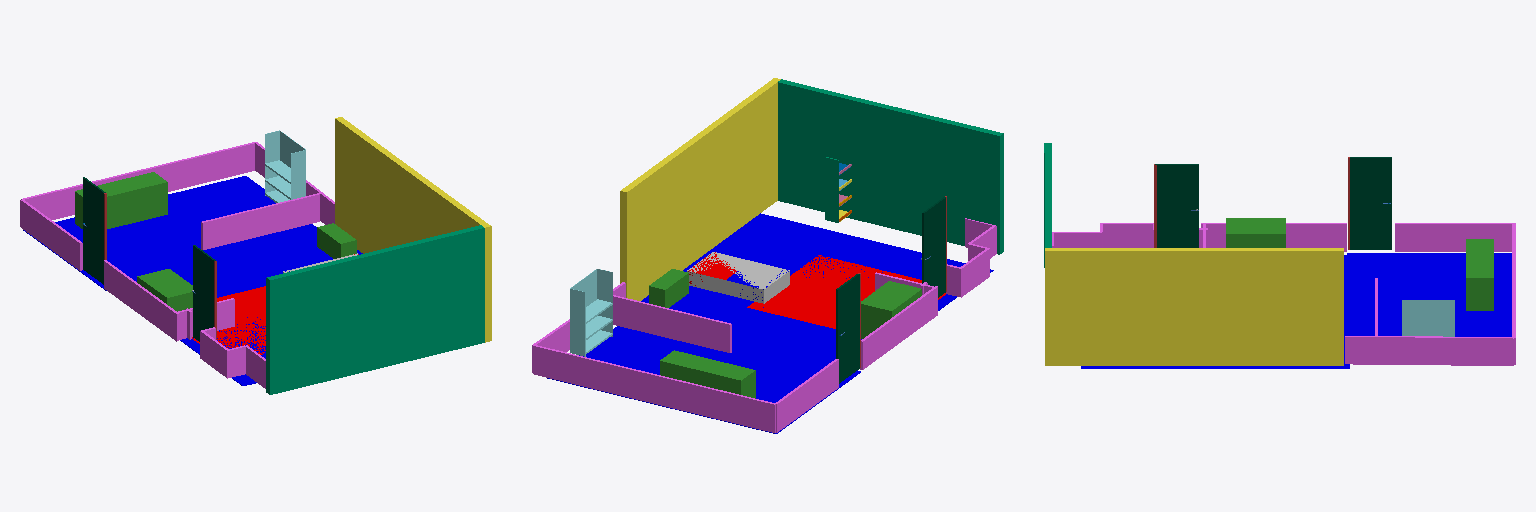
--- What the picture shows (computed from the rendered views, not written in the file) ---
Views: 3 orthographic renders of the robot side by side, from view 1: azimuth 30°, elevation 25°; view 2: azimuth 150°, elevation 25°; view 3: azimuth 270°, elevation 25°.
Robot: iai-kitchen — 129 links, 128 joints (12 revolute, 15 prismatic, 101 fixed); root link urdf_main; default pose: every joint at zero.
Visible links, largest first — view 1: kitchen_wall_1, kitchen_wall_2, living_room:living_room:room_center_link, wall_14_link, iai_kitchen:kitchen:room_center_link, wall_4_link, popcorn_table:p_table:table_center, wall_3_link, arena:arena:room_center_link, living_room:arena:door_center, wall_5_link, iai_kitchen:arena:door_center (+8 smaller); view 2: kitchen_wall_1, kitchen_wall_2, iai_kitchen:kitchen:room_center_link, wall_14_link, living_room:living_room:room_center_link, arena:arena:room_center_link, wall_4_link, suturo_couch:couch:place1, popcorn_table:p_table:table_center, wall_3_link, living_room:arena:door_center, iai_kitchen:arena:door_center (+9 smaller); view 3: kitchen_wall_2, living_room:living_room:room_center_link, wall_15_link, living_room:arena:door_center, iai_kitchen:arena:door_center, wall_5_link, popcorn_table:p_table:table_center, wall_3_link, shelf:shelf:shelf_back, long_table:l_table:table_center, iai_kitchen:kitchen:room_center_link, wall_12_link (+2 smaller).
Link boxes in pixels (<box>): kitchen_wall_1: <box>266,225,484,394</box>; kitchen_wall_2: <box>335,117,491,342</box>; living_room:living_room:room_center_link: <box>23,176,316,290</box>; wall_14_link: <box>21,142,254,219</box>; iai_kitchen:kitchen:room_center_link: <box>176,237,362,385</box>; wall_4_link: <box>201,193,319,249</box>; popcorn_table:p_table:table_center: <box>75,172,167,228</box>; wall_3_link: <box>104,260,178,341</box>; arena:arena:room_center_link: <box>192,286,265,354</box>; living_room:arena:door_center: <box>83,177,105,284</box>; wall_5_link: <box>20,200,82,270</box>; iai_kitchen:arena:door_center: <box>193,245,215,341</box>; kitchen_wall_1: <box>778,79,1003,254</box>; kitchen_wall_2: <box>620,78,780,300</box>; iai_kitchen:kitchen:room_center_link: <box>641,213,993,370</box>; wall_14_link: <box>533,345,775,432</box>; living_room:living_room:room_center_link: <box>547,326,860,433</box>; arena:arena:room_center_link: <box>747,255,945,328</box>; wall_4_link: <box>613,295,731,352</box>; suturo_couch:couch:place1: <box>687,252,789,303</box>; popcorn_table:p_table:table_center: <box>660,350,755,398</box>; wall_3_link: <box>860,286,937,369</box>; living_room:arena:door_center: <box>836,274,859,383</box>; iai_kitchen:arena:door_center: <box>922,197,945,297</box>; kitchen_wall_2: <box>1045,248,1343,365</box>; living_room:living_room:room_center_link: <box>1347,253,1511,336</box>; wall_15_link: <box>1345,336,1513,365</box>; living_room:arena:door_center: <box>1350,157,1391,249</box>; iai_kitchen:arena:door_center: <box>1155,164,1198,247</box>; wall_5_link: <box>1395,223,1513,251</box>; popcorn_table:p_table:table_center: <box>1466,239,1493,310</box>; wall_3_link: <box>1201,223,1346,251</box>; shelf:shelf:shelf_back: <box>1402,300,1454,336</box>; long_table:l_table:table_center: <box>1226,218,1285,247</box>; iai_kitchen:kitchen:room_center_link: <box>1081,255,1349,368</box>; wall_12_link: <box>1100,223,1153,247</box>.
Bounding box of the posed robot: 5.42 × 9.27 × 2.56 m (x, y, z).
Meshes: 28 distinct files referenced, 0 mesh visuals loaded (none loaded); not drawn: 53 (reference not matched to a file when rendering).

The robot description file, URDF, robot "iai-kitchen":
<?xml version="1.0" ?>
<robot name="iai-kitchen" version="1.0">
  <material name="table_grey">
    <color rgba="0.255 0.62 0.223 1.0"/>
  </material>
  <material name="color_grey">
    <color rgba="0.8 0.8 0.8 1.0"/>
  </material>
  <material name="color_red">
    <color rgba="1.0 0.0 0.0 1.0"/>
  </material>
  <material name="color_blue">
    <color rgba="0.0 0.0 1.0 1.0"/>
  </material>
  <material name="round_table_grey">
    <color rgba="0.8 0.8 0.8 1.0"/>
  </material>
  <material name="wall_pink">
    <color rgba="0.95 0.43 0.96 1.0"/>
  </material>
  <material name="shelf_blue">
    <color rgba="0.59 0.88 0.9 1.0"/>
  </material>
  <material name="shelf_door_green">
    <color rgba="0.64 0.87 0.82 1.0"/>
  </material>
  <material name="shelf_openable_handle_red">
    <color rgba="0.74 0.25 0.25 1.0"/>
  </material>
  <material name="door_green">
    <color rgba="0.0 0.31 0.22 1.0"/>
  </material>
  <material name="hinge_red">
    <color rgba="0.74 0.25 0.25 1.0"/>
  </material>
  <material name="handle_blue">
    <color rgba="0.3 0.5 0.78 1.0"/>
  </material>
  <material name="bucket_grey">
    <color rgba="0.8 0.8 0.8 1.0"/>
  </material>
  <material name="white">
    <color rgba="1.0 1.0 1.0 1.0"/>
  </material>
  <material name="orange">
    <color rgba="1.0 0.7 0.0 1.0"/>
  </material>
  <material name="handle_white">
    <color rgba="1.0 1.0 1.0 1.0"/>
  </material>
  <material name="bottom_white">
    <color rgba="1.0 1.0 1.0 1.0"/>
  </material>
  <material name="frame_wood">
    <color rgba="0.68 0.63 0.47 1.0"/>
  </material>
  <material name="handle_grey">
    <color rgba="0.7 0.7 0.7 1.0"/>
  </material>
  <link name="long_table:l_table:table_center">
    <visual>
      <origin xyz="0.0 0.0 -0.3675" rpy="0.0 0.0 0.0"/>
      <geometry>
        <box size="0.73 1.17 0.735"/>
      </geometry>
      <material name="table_grey"/>
    </visual>
    <collision>
      <origin xyz="0.0 0.0 -0.3675" rpy="0.0 0.0 0.0"/>
      <geometry>
        <box size="0.73 1.17 0.735"/>
      </geometry>
    </collision>
  </link>
  <link name="long_table:l_table:table_origin"/>
  <link name="long_table:l_table:table_front_edge_center"/>
  <joint name="long_table:l_table:table_origin_joint" type="fixed">
    <origin xyz="1.01 2.13 0.0" rpy="0.0 0.0 3.15"/>
    <parent link="urdf_offset"/>
    <child link="long_table:l_table:table_origin"/>
  </joint>
  <joint name="long_table:l_table:center_joint" type="fixed">
    <origin xyz="0.365 0.585 0.735" rpy="0.0 0.0 0.0"/>
    <parent link="long_table:l_table:table_origin"/>
    <child link="long_table:l_table:table_center"/>
  </joint>
  <joint name="long_table:l_table:table_front_edge_center_joint" type="fixed">
    <origin xyz="0.0 0.585 0.735" rpy="0.0 0.0 0.0"/>
    <parent link="long_table:l_table:table_origin"/>
    <child link="long_table:l_table:table_front_edge_center"/>
  </joint>
  <link name="popcorn_table:p_table:table_center">
    <visual>
      <origin xyz="0.0 0.0 -0.355" rpy="0.0 0.0 0.0"/>
      <geometry>
        <box size="0.55 1.8 0.71"/>
      </geometry>
      <material name="table_grey"/>
    </visual>
    <collision>
      <origin xyz="0.0 0.0 -0.355" rpy="0.0 0.0 0.0"/>
      <geometry>
        <box size="0.55 1.8 0.71"/>
      </geometry>
    </collision>
  </link>
  <link name="popcorn_table:p_table:table_origin"/>
  <link name="popcorn_table:p_table:table_front_edge_center"/>
  <joint name="popcorn_table:p_table:table_origin_joint" type="fixed">
    <origin xyz="3.03 5.68 0.0" rpy="0.0 0.0 1.57"/>
    <parent link="urdf_offset"/>
    <child link="popcorn_table:p_table:table_origin"/>
  </joint>
  <joint name="popcorn_table:p_table:center_joint" type="fixed">
    <origin xyz="0.275 0.9 0.71" rpy="0.0 0.0 0.0"/>
    <parent link="popcorn_table:p_table:table_origin"/>
    <child link="popcorn_table:p_table:table_center"/>
  </joint>
  <joint name="popcorn_table:p_table:table_front_edge_center_joint" type="fixed">
    <origin xyz="0.0 0.9 0.71" rpy="0.0 0.0 0.0"/>
    <parent link="popcorn_table:p_table:table_origin"/>
    <child link="popcorn_table:p_table:table_front_edge_center"/>
  </joint>
  <link name="couch_table:couch_table:table_center">
    <visual>
      <origin xyz="0.0 0.0 -0.2165" rpy="0.0 0.0 0.0"/>
      <geometry>
        <box size="0.37 0.909 0.433"/>
      </geometry>
      <material name="table_grey"/>
    </visual>
    <collision>
      <origin xyz="0.0 0.0 -0.2165" rpy="0.0 0.0 0.0"/>
      <geometry>
        <box size="0.37 0.909 0.433"/>
      </geometry>
    </collision>
  </link>
  <link name="couch_table:couch_table:table_origin"/>
  <link name="couch_table:couch_table:table_front_edge_center"/>
  <joint name="couch_table:couch_table:table_origin_joint" type="fixed">
    <origin xyz="4.83 1.99 0.0" rpy="0.0 0.0 0.0"/>
    <parent link="urdf_offset"/>
    <child link="couch_table:couch_table:table_origin"/>
  </joint>
  <joint name="couch_table:couch_table:center_joint" type="fixed">
    <origin xyz="0.185 0.4545 0.433" rpy="0.0 0.0 0.0"/>
    <parent link="couch_table:couch_table:table_origin"/>
    <child link="couch_table:couch_table:table_center"/>
  </joint>
  <joint name="couch_table:couch_table:table_front_edge_center_joint" type="fixed">
    <origin xyz="0.0 0.4545 0.433" rpy="0.0 0.0 0.0"/>
    <parent link="couch_table:couch_table:table_origin"/>
    <child link="couch_table:couch_table:table_front_edge_center"/>
  </joint>
  <link name="suturo_couch:couch:place1">
    <visual>
      <origin xyz="0.0 0.0 0.15" rpy="0.0 0.0 0.0"/>
      <geometry>
        <box size="1.0 1.7 0.3"/>
      </geometry>
      <material name="color_grey"/>
    </visual>
    <collision>
      <origin xyz="0.0 0.0 0.0" rpy="0.0 0.0 0.0"/>
      <geometry>
        <box size="1.0 1.7 0.3"/>
      </geometry>
    </collision>
  </link>
  <link name="suturo_couch:couch:place2">
    <visual>
      <origin xyz="0.0 -0.425 0.15" rpy="0.0 0.0 0.0"/>
      <geometry>
        <box size="1.0 0.85 0.3"/>
      </geometry>
      <material name="color_red"/>
    </visual>
    <collision>
      <origin xyz="0.0 0.0 0.0" rpy="0.0 0.0 0.0"/>
      <geometry>
        <box size="1.0 1.7 0.3"/>
      </geometry>
    </collision>
  </link>
  <link name="suturo_couch:couch:place3">
    <visual>
      <origin xyz="0.0 0.425 0.15" rpy="0.0 0.0 0.0"/>
      <geometry>
        <box size="1.0 0.85 0.3"/>
      </geometry>
      <material name="color_blue"/>
    </visual>
    <collision>
      <origin xyz="0.0 0.0 -0.15" rpy="0.0 0.0 0.0"/>
      <geometry>
        <box size="1.0 1.7 0.3"/>
      </geometry>
    </collision>
  </link>
  <joint name="suturo_couch:couch:couch_origin_joint" type="fixed">
    <origin xyz="4.2 1.19 0.0" rpy="0.0 0.0 1.57"/>
    <parent link="urdf_offset"/>
    <child link="suturo_couch:couch:place1"/>
  </joint>
  <joint name="suturo_couch:couch:couch_left_joint" type="fixed">
    <origin xyz="0.0 0.0 0.0" rpy="0.0 0.0 0.0"/>
    <parent link="suturo_couch:couch:place1"/>
    <child link="suturo_couch:couch:place2"/>
  </joint>
  <joint name="suturo_couch:couch:couch_right_joint" type="fixed">
    <origin xyz="0.0 0.0 0.0" rpy="0.0 0.0 0.0"/>
    <parent link="suturo_couch:couch:place1"/>
    <child link="suturo_couch:couch:place3"/>
  </joint>
  <link name="shelf:shelf:shelf_origin"/>
  <link name="shelf:shelf:shelf_center"/>
  <link name="shelf:shelf:shelf_base_center"/>
  <joint name="shelf:shelf:shelf_origin_joint" type="fixed">
    <origin xyz="5.11 4.42 0.0" rpy="0.0 0.0 0.0"/>
    <parent link="urdf_offset"/>
    <child link="shelf:shelf:shelf_origin"/>
  </joint>
  <joint name="shelf:shelf:shelf_center_joint" type="fixed">
    <origin xyz="0.17 0.52 0.6775" rpy="0.0 0.0 0.0"/>
    <parent link="shelf:shelf:shelf_origin"/>
    <child link="shelf:shelf:shelf_center"/>
  </joint>
  <joint name="shelf:shelf:shelf_base_center_joint" type="fixed">
    <origin xyz="0.17 0.52 0.0" rpy="0.0 0.0 0.0"/>
    <parent link="shelf:shelf:shelf_origin"/>
    <child link="shelf:shelf:shelf_base_center"/>
  </joint>
  <link name="shelf:shelf:shelf_back">
    <visual>
      <origin xyz="0.0 0.0 0.0" rpy="0.0 0.0 0.0"/>
      <geometry>
        <box size="0.01 1.04 1.355"/>
      </geometry>
      <material name="shelf_blue"/>
    </visual>
    <collision>
      <origin xyz="0.0 0.0 0.0" rpy="0.0 0.0 0.0"/>
      <geometry>
        <box size="0.01 1.04 1.355"/>
      </geometry>
    </collision>
  </link>
  <joint name="shelf:shelf:shelf_back:joint" type="fixed">
    <origin xyz="0.34 0.52 0.6775" rpy="0.0 0.0 0.0"/>
    <parent link="shelf:shelf:shelf_origin"/>
    <child link="shelf:shelf:shelf_back"/>
  </joint>
  <link name="shelf:shelf:shelf_right_side">
    <visual>
      <origin xyz="0.0 0.0 0.0" rpy="0.0 0.0 0.0"/>
      <geometry>
        <box size="0.34 0.01 1.355"/>
      </geometry>
      <material name="shelf_blue"/>
    </visual>
    <collision>
      <origin xyz="0.0 0.0 0.0" rpy="0.0 0.0 0.0"/>
      <geometry>
        <box size="0.34 0.01 1.355"/>
      </geometry>
    </collision>
  </link>
  <joint name="shelf:shelf:shelf_right_side:joint" type="fixed">
    <origin xyz="0.17 0.0 0.6775" rpy="0.0 0.0 0.0"/>
    <parent link="shelf:shelf:shelf_origin"/>
    <child link="shelf:shelf:shelf_right_side"/>
  </joint>
  <link name="shelf:shelf:shelf_left_side">
    <visual>
      <origin xyz="0.0 0.0 0.0" rpy="0.0 0.0 0.0"/>
      <geometry>
        <box size="0.34 0.01 1.355"/>
      </geometry>
      <material name="shelf_blue"/>
    </visual>
    <collision>
      <origin xyz="0.0 0.0 0.0" rpy="0.0 0.0 0.0"/>
      <geometry>
        <box size="0.34 0.01 1.355"/>
      </geometry>
    </collision>
  </link>
  <joint name="shelf:shelf:shelf_left_side:joint" type="fixed">
    <origin xyz="0.17 1.04 0.6775" rpy="0.0 0.0 0.0"/>
    <parent link="shelf:shelf:shelf_origin"/>
    <child link="shelf:shelf:shelf_left_side"/>
  </joint>
  <link name="shelf:shelf:shelf_floor_0">
    <visual>
      <origin xyz="0.0 0.0 -0.02" rpy="0.0 0.0 0.0"/>
      <geometry>
        <box size="0.34 1.04 0.04"/>
      </geometry>
      <material name="shelf_blue"/>
    </visual>
    <collision>
      <origin xyz="0.0 0.0 -0.02" rpy="0.0 0.0 0.0"/>
      <geometry>
        <box size="0.34 1.04 0.04"/>
      </geometry>
    </collision>
  </link>
  <joint name="shelf:shelf:shelf_floor_0:joint" type="fixed">
    <origin xyz="0.0 0.0 0.077" rpy="0.0 0.0 0.0"/>
    <parent link="shelf:shelf:shelf_base_center"/>
    <child link="shelf:shelf:shelf_floor_0"/>
  </joint>
  <link name="shelf:shelf:shelf_floor_1">
    <visual>
      <origin xyz="0.0 0.0 -0.02" rpy="0.0 0.0 0.0"/>
      <geometry>
        <box size="0.34 1.04 0.04"/>
      </geometry>
      <material name="shelf_blue"/>
    </visual>
    <collision>
      <origin xyz="0.0 0.0 -0.02" rpy="0.0 0.0 0.0"/>
      <geometry>
        <box size="0.34 1.04 0.04"/>
      </geometry>
    </collision>
  </link>
  <joint name="shelf:shelf:shelf_floor_1:joint" type="fixed">
    <origin xyz="0.0 0.0 0.371" rpy="0.0 0.0 0.0"/>
    <parent link="shelf:shelf:shelf_base_center"/>
    <child link="shelf:shelf:shelf_floor_1"/>
  </joint>
  <link name="shelf:shelf:shelf_floor_2">
    <visual>
      <origin xyz="0.0 0.0 -0.02" rpy="0.0 0.0 0.0"/>
      <geometry>
        <box size="0.34 1.04 0.04"/>
      </geometry>
      <material name="shelf_blue"/>
    </visual>
    <collision>
      <origin xyz="0.0 0.0 -0.02" rpy="0.0 0.0 0.0"/>
      <geometry>
        <box size="0.34 1.04 0.04"/>
      </geometry>
    </collision>
  </link>
  <joint name="shelf:shelf:shelf_floor_2:joint" type="fixed">
    <origin xyz="0.0 0.0 0.716" rpy="0.0 0.0 0.0"/>
    <parent link="shelf:shelf:shelf_base_center"/>
    <child link="shelf:shelf:shelf_floor_2"/>
  </joint>
  <joint name="wall_1_center_joint" type="fixed">
    <origin xyz="0.515 0.5015 0.3" rpy="0 0 0"/>
    <parent link="urdf_offset"/>
    <child link="wall_1_link"/>
  </joint>
  <link name="wall_1_link">
    <visual>
      <origin xyz="0.0 0.0 0.0" rpy="0.0 0.0 1.5707963267948966"/>
      <geometry>
        <box size="0.173 0.06 0.6"/>
      </geometry>
      <material name="wall_pink"/>
    </visual>
    <collision>
      <origin xyz="0.0 0.0 0.0" rpy="0.0 0.0 1.5707963267948966"/>
      <geometry>
        <box size="0.173 0.06 0.6"/>
      </geometry>
    </collision>
  </link>
  <joint name="wall_2_center_joint" type="fixed">
    <origin xyz="0.91 0.53 0.3" rpy="0 0 0"/>
    <parent link="urdf_offset"/>
    <child link="wall_2_link"/>
  </joint>
  <link name="wall_2_link">
    <visual>
      <origin xyz="0.0 0.0 0.0" rpy="0.0 0.0 0.0"/>
      <geometry>
        <box size="1.32 0.06 0.6"/>
      </geometry>
      <material name="wall_pink"/>
    </visual>
    <collision>
      <origin xyz="0.0 0.0 0.0" rpy="0.0 0.0 0.0"/>
      <geometry>
        <box size="1.32 0.06 0.6"/>
      </geometry>
    </collision>
  </link>
  <joint name="wall_3_center_joint" type="fixed">
    <origin xyz="0.25 1.903 0.3" rpy="0 0 0"/>
    <parent link="urdf_offset"/>
    <child link="wall_3_link"/>
  </joint>
  <link name="wall_3_link">
    <visual>
      <origin xyz="0.0 0.0 0.0" rpy="0.0 0.0 1.5707963267948966"/>
      <geometry>
        <box size="2.8739999999999997 0.06 0.6"/>
      </geometry>
      <material name="wall_pink"/>
    </visual>
    <collision>
      <origin xyz="0.0 0.0 0.0" rpy="0.0 0.0 1.5707963267948966"/>
      <geometry>
        <box size="2.8739999999999997 0.06 0.6"/>
      </geometry>
    </collision>
  </link>
  <joint name="wall_4_center_joint" type="fixed">
    <origin xyz="4.13 3.92 0.3" rpy="0 0 0"/>
    <parent link="urdf_offset"/>
    <child link="wall_4_link"/>
  </joint>
  <link name="wall_4_link">
    <visual>
      <origin xyz="0.0 0.0 0.0" rpy="0.0 0.0 0.0"/>
      <geometry>
        <box size="2.6799999999999997 0.06 0.6"/>
      </geometry>
      <material name="wall_pink"/>
    </visual>
    <collision>
      <origin xyz="0.0 0.0 0.0" rpy="0.0 0.0 0.0"/>
      <geometry>
        <box size="2.6799999999999997 0.06 0.6"/>
      </geometry>
    </collision>
  </link>
  <joint name="wall_5_center_joint" type="fixed">
    <origin xyz="0.25 5.445 0.3" rpy="0 0 0"/>
    <parent link="urdf_offset"/>
    <child link="wall_5_link"/>
  </joint>
  <link name="wall_5_link">
    <visual>
      <origin xyz="0.0 0.0 0.0" rpy="0.0 0.0 1.5707963267948966"/>
      <geometry>
        <box size="2.3500000000000005 0.06 0.6"/>
      </geometry>
      <material name="wall_pink"/>
    </visual>
    <collision>
      <origin xyz="0.0 0.0 0.0" rpy="0.0 0.0 1.5707963267948966"/>
      <geometry>
        <box size="2.3500000000000005 0.06 0.6"/>
      </geometry>
    </collision>
  </link>
  <joint name="wall_9_center_joint" type="fixed">
    <origin xyz="0.97 -2.47 0.3" rpy="0 0 0"/>
    <parent link="urdf_offset"/>
    <child link="wall_9_link"/>
  </joint>
  <link name="wall_9_link">
    <visual>
      <origin xyz="0.0 0.0 0.0" rpy="0.0 0.0 0.0"/>
      <geometry>
        <box size="0.68 0.06 0.6"/>
      </geometry>
      <material name="wall_pink"/>
    </visual>
    <collision>
      <origin xyz="0.0 0.0 0.0" rpy="0.0 0.0 0.0"/>
      <geometry>
        <box size="0.68 0.06 0.6"/>
      </geometry>
    </collision>
  </link>
  <joint name="wall_10_center_joint" type="fixed">
    <origin xyz="0.6645000000000001 -2.0 0.3" rpy="0 0 0"/>
    <parent link="urdf_offset"/>
    <child link="wall_10_link"/>
  </joint>
  <link name="wall_10_link">
    <visual>
      <origin xyz="0.0 0.0 0.0" rpy="0.0 0.0 1.560012431117244"/>
      <geometry>
        <box size="1.0200593120010226 0.06 0.6"/>
      </geometry>
      <material name="wall_pink"/>
    </visual>
    <collision>
      <origin xyz="0.0 0.0 0.0" rpy="0.0 0.0 1.560012431117244"/>
      <geometry>
        <box size="1.0200593120010226 0.06 0.6"/>
      </geometry>
    </collision>
  </link>
  <joint name="wall_11_center_joint" type="fixed">
    <origin xyz="0.457 -1.5 0.3" rpy="0 0 0"/>
    <parent link="urdf_offset"/>
    <child link="wall_11_link"/>
  </joint>
  <link name="wall_11_link">
    <visual>
      <origin xyz="0.0 0.0 0.0" rpy="0.0 0.0 0.0"/>
      <geometry>
        <box size="0.404 0.06 0.6"/>
      </geometry>
      <material name="wall_pink"/>
    </visual>
    <collision>
      <origin xyz="0.0 0.0 0.0" rpy="0.0 0.0 0.0"/>
      <geometry>
        <box size="0.404 0.06 0.6"/>
      </geometry>
    </collision>
  </link>
  <joint name="wall_12_center_joint" type="fixed">
    <origin xyz="0.2575 -0.983 0.3" rpy="0 0 0"/>
    <parent link="urdf_offset"/>
    <child link="wall_12_link"/>
  </joint>
  <link name="wall_12_link">
    <visual>
      <origin xyz="0.0 0.0 0.0" rpy="0.0 0.0 1.566225974704932"/>
      <geometry>
        <box size="1.0940114259001137 0.06 0.6"/>
      </geometry>
      <material name="wall_pink"/>
    </visual>
    <collision>
      <origin xyz="0.0 0.0 0.0" rpy="0.0 0.0 1.566225974704932"/>
      <geometry>
        <box size="1.0940114259001137 0.06 0.6"/>
      </geometry>
    </collision>
  </link>
  <joint name="wall_13_center_joint" type="fixed">
    <origin xyz="0.41 -0.464 0.3" rpy="0 0 0"/>
    <parent link="urdf_offset"/>
    <child link="wall_13_link"/>
  </joint>
  <link name="wall_13_link">
    <visual>
      <origin xyz="0.0 0.0 0.0" rpy="0.0 0.0 0.0"/>
      <geometry>
        <box size="0.31999999999999995 0.06 0.6"/>
      </geometry>
      <material name="wall_pink"/>
    </visual>
    <collision>
      <origin xyz="0.0 0.0 0.0" rpy="0.0 0.0 0.0"/>
      <geometry>
        <box size="0.31999999999999995 0.06 0.6"/>
      </geometry>
    </collision>
  </link>
  <joint name="wall_14_center_joint" type="fixed">
    <origin xyz="2.915 6.62 0.3" rpy="0 0 0"/>
    <parent link="urdf_offset"/>
    <child link="wall_14_link"/>
  </joint>
  <link name="wall_14_link">
    <visual>
      <origin xyz="0.0 0.0 0.0" rpy="0.0 0.0 0.0"/>
      <geometry>
        <box size="5.33 0.06 0.6"/>
      </geometry>
      <material name="wall_pink"/>
    </visual>
    <collision>
      <origin xyz="0.0 0.0 0.0" rpy="0.0 0.0 0.0"/>
      <geometry>
        <box size="5.33 0.06 0.6"/>
      </geometry>
    </collision>
  </link>
  <joint name="wall_15_center_joint" type="fixed">
    <origin xyz="5.54 4.96 0.3" rpy="0 0 0"/>
    <parent link="urdf_offset"/>
    <child link="wall_15_link"/>
  </joint>
  <link name="wall_15_link">
    <visual>
      <origin xyz="0.0 0.0 0.0" rpy="0.0 0.0 1.5467046033699754"/>
      <geometry>
        <box size="3.320963715550051 0.06 0.6"/>
      </geometry>
      <material name="wall_pink"/>
    </visual>
    <collision>
      <origin xyz="0.0 0.0 0.0" rpy="0.0 0.0 1.5467046033699754"/>
      <geometry>
        <box size="3.320963715550051 0.06 0.6"/>
      </geometry>
    </collision>
  </link>
  <joint name="world_iai_kitchen:kitchen:room_joint" type="fixed">
    <origin xyz="3.0 0.75 -0.05" rpy="0.0 0.0 0.0"/>
    <parent link="urdf_offset"/>
    <child link="iai_kitchen:kitchen:room_center_link"/>
  </joint>
  <link name="iai_kitchen:kitchen:room_center_link">
    <visual>
      <geometry>
        <box size="5.28 5.3 0.01"/>
      </geometry>
      <material name="iai_kitchen:kitchen:color">
        <color rgba="0.0 0.0 1.0 0.5"/>
      </material>
    </visual>
    <collision>
      <geometry>
        <box size="5.28 5.3 0.01"/>
      </geometry>
    </collision>
  </link>
  <joint name="room_kitchen_entry_exit:entry_exit:connection_joint" type="fixed">
    <origin xyz="-2.4 -0.66 0.0" rpy="0.0 0.0 0.0"/>
    <parent link="iai_kitchen:kitchen:room_center_link"/>
    <child link="kitchen_entry_exit:entry_exit:link"/>
  </joint>
  <link name="kitchen_entry_exit:entry_exit:link"/>
  <joint name="world_arena:arena:room_joint" type="fixed">
    <origin xyz="2.1 0.54 -0.05" rpy="0.0 0.0 0.0"/>
    <parent link="urdf_offset"/>
    <child link="arena:arena:room_center_link"/>
  </joint>
  <link name="arena:arena:room_center_link">
    <visual>
      <geometry>
        <box size="3.0 2.75 0.01"/>
      </geometry>
      <material name="arena:arena:color">
        <color rgba="1.0 0.0 0.0 0.1"/>
      </material>
    </visual>
    <collision>
      <geometry>
        <box size="3.0 2.75 0.01"/>
      </geometry>
    </collision>
  </link>
  <joint name="room_arena_entry_exit:entry_exit:connection_joint" type="fixed">
    <origin xyz="-1.4300000000000002 -0.54 0.0" rpy="0.0 0.0 0.0"/>
    <parent link="arena:arena:room_center_link"/>
    <child link="arena_entry_exit:entry_exit:link"/>
  </joint>
  <link name="arena_entry_exit:entry_exit:link"/>
  <joint name="world_living_room:living_room:room_joint" type="fixed">
    <origin xyz="2.79 4.95 -0.05" rpy="0.0 0.0 0.0"/>
    <parent link="urdf_offset"/>
    <child link="living_room:living_room:room_center_link"/>
  </joint>
  <link name="living_room:living_room:room_center_link">
    <visual>
      <geometry>
        <box size="5.07 3.25 0.01"/>
      </geometry>
      <material name="living_room:living_room:color">
        <color rgba="0.0 0.0 1.0 0.5"/>
      </material>
    </visual>
    <collision>
      <geometry>
        <box size="5.07 3.25 0.01"/>
      </geometry>
    </collision>
  </link>
  <joint name="room_living_room_entry_exit:entry_exit:connection_joint" type="fixed">
    <origin xyz="-2.5300000000000002 -1.1400000000000001 0.0" rpy="0.0 0.0 0.0"/>
    <parent link="living_room:living_room:room_center_link"/>
    <child link="living_room_entry_exit:entry_exit:link"/>
  </joint>
  <link name="living_room_entry_exit:entry_exit:link"/>
  <link name="kitchen_main">
    <inertial>
      <origin xyz="0.0 0.0 0.0" rpy="0.0 0.0 0.0"/>
      <mass value="1.0"/>
      <inertia ixx="1.0" ixy="0.0" ixz="0.0" iyy="1.0" iyz="0.0" izz="1.0"/>
    </inertial>
  </link>
  <joint name="kitchen_main" type="fixed">
    <origin xyz="2.45 -0.67 0.0" rpy="0.0 0.0 -1.57"/>
    <parent link="urdf_offset"/>
    <child link="kitchen_main"/>
  </joint>
  <link name="sink_area_footprint">
    <inertial>
      <origin xyz="0.0 0.0 0.0" rpy="0.0 0.0 0.0"/>
      <mass value="1.0"/>
      <inertia ixx="1.0" ixy="0.0" ixz="0.0" iyy="1.0" iyz="0.0" izz="1.0"/>
    </inertial>
  </link>
  <link name="sink_area">
    <inertial>
      <origin xyz="0.0 0.0 0.0" rpy="0.0 0.0 0.0"/>
      <mass value="1.0"/>
      <inertia ixx="1.0" ixy="0.0" ixz="0.0" iyy="1.0" iyz="0.0" izz="1.0"/>
    </inertial>
    <visual>
      <origin xyz="0.0 0.0 0.0" rpy="0.0 0.0 0.0"/>
      <geometry>
        <mesh filename="package://iai_kitchen/meshes/racks/SinkArea.obj"/>
      </geometry>
    </visual>
    <collision>
      <origin xyz="0.0 0.0 0.0" rpy="0.0 0.0 0.0"/>
      <geometry>
        <mesh filename="package://iai_kitchen/meshes/racks/SinkArea.obj"/>
      </geometry>
    </collision>
  </link>
  <joint name="sink_area_footprint_joint" type="fixed">
    <origin xyz="1.825 1.32 0.0" rpy="0.0 0.0 3.14159265359"/>
    <parent link="kitchen_main"/>
    <child link="sink_area_footprint"/>
  </joint>
  <joint name="sink_area_main_joint" type="fixed">
    <origin xyz="0.29 1.03 0.41" rpy="0.0 0.0 0.0"/>
    <parent link="sink_area_footprint"/>
    <child link="sink_area"/>
  </joint>
  <link name="sink_area_surface">
    <inertial>
      <origin xyz="0.0 0.0 0.0" rpy="0.0 0.0 0.0"/>
      <mass value="1.0"/>
      <inertia ixx="1.0" ixy="0.0" ixz="0.0" iyy="1.0" iyz="0.0" izz="1.0"/>
    </inertial>
    <collision>
      <origin xyz="0.0 -0.225 0.0" rpy="0.0 0.0 0.0"/>
      <geometry>
        <box size="0.575 1.6 0.02"/>
      </geometry>
    </collision>
  </link>
  <joint name="sink_area_surface_joint" type="fixed">
    <origin xyz="0.0 0.0 0.43" rpy="0.0 0.0 0.0"/>
    <parent link="sink_area"/>
    <child link="sink_area_surface"/>
  </joint>
  <link name="sink_area_sink">
    <inertial>
      <origin xyz="0.0 0.0 0.0" rpy="0.0 0.0 0.0"/>
      <mass value="1.0"/>
      <inertia ixx="1.0" ixy="0.0" ixz="0.0" iyy="1.0" iyz="0.0" izz="1.0"/>
    </inertial>
    <visual>
      <origin xyz="0.0 0.0 0.0" rpy="0.0 0.0 0.0"/>
      <geometry>
        <mesh filename="package://iai_kitchen/meshes/misc/Sink.obj"/>
      </geometry>
    </visual>
    <collision>
      <origin xyz="0.0 0.0 0.0" rpy="0.0 0.0 0.0"/>
      <geometry>
        <mesh filename="package://iai_kitchen/meshes/misc/Sink.obj"/>
      </geometry>
    </collision>
  </link>
  <joint name="sink_area_sink_joint" type="fixed">
    <origin xyz="0.005 0.47 0.4414" rpy="0.0 0.0 0.0"/>
    <parent link="sink_area"/>
    <child link="sink_area_sink"/>
  </joint>
  <link name="sink_area_right_panel">
    <inertial>
      <origin xyz="0.0 0.0 0.0" rpy="0.0 0.0 0.0"/>
      <mass value="1.0"/>
      <inertia ixx="1.0" ixy="0.0" ixz="0.0" iyy="1.0" iyz="0.0" izz="1.0"/>
    </inertial>
    <visual>
      <origin xyz="0.0 0.0 0.0" rpy="0.0 0.0 0.0"/>
      <geometry>
        <mesh filename="package://iai_kitchen/meshes/drawers/Panel_60.obj"/>
      </geometry>
    </visual>
    <collision>
      <origin xyz="0.0 0.0 0.0" rpy="0.0 0.0 0.0"/>
      <geometry>
        <mesh filename="package://iai_kitchen/meshes/drawers/Panel_60.obj"/>
      </geometry>
    </collision>
  </link>
  <joint name="sink_area_right_panel_joint" type="fixed">
    <origin xyz="0.28 0.7 0.355" rpy="0.0 0.0 0.0"/>
    <parent link="sink_area"/>
    <child link="sink_area_right_panel"/>
  </joint>
  <link name="sink_area_trash_drawer_main">
    <inertial>
      <origin xyz="0.0 0.0 0.0" rpy="0.0 0.0 0.0"/>
      <mass value="1.0"/>
      <inertia ixx="1.0" ixy="0.0" ixz="0.0" iyy="1.0" iyz="0.0" izz="1.0"/>
    </inertial>
    <visual>
      <origin xyz="0.0 0.0 0.0" rpy="0.0 0.0 0.0"/>
      <geometry>
        <mesh filename="package://iai_kitchen/meshes/drawers/Drawer_60_58.obj"/>
      </geometry>
    </visual>
    <collision>
      <origin xyz="0.0 0.0 0.0" rpy="0.0 0.0 0.0"/>
      <geometry>
        <mesh filename="package://iai_kitchen/meshes/drawers/Drawer_60_58.obj"/>
      </geometry>
    </collision>
  </link>
  <link name="sink_area_trash_drawer_handle">
    <inertial>
      <origin xyz="0.0 0.0 0.0" rpy="0.0 0.0 0.0"/>
      <mass value="1.0"/>
      <inertia ixx="1.0" ixy="0.0" ixz="0.0" iyy="1.0" iyz="0.0" izz="1.0"/>
    </inertial>
    <visual>
      <origin xyz="0.0 0.0 0.0" rpy="0.0 0.0 0.0"/>
      <geometry>
        <mesh filename="package://iai_kitchen/meshes/handles/Handle60.obj"/>
      </geometry>
    </visual>
    <collision>
      <origin xyz="0.0 0.0 0.0" rpy="0.0 0.0 0.0"/>
      <geometry>
        <mesh filename="package://iai_kitchen/meshes/handles/Handle60.obj"/>
      </geometry>
    </collision>
  </link>
  <joint name="sink_area_trash_drawer_main_joint" type="prismatic">
    <origin xyz="0.01 0.7 -0.015" rpy="0.0 0.0 0.0"/>
    <axis xyz="1.0 0.0 0.0"/>
    <parent link="sink_area"/>
    <child link="sink_area_trash_drawer_main"/>
    <limit effort="300.0" lower="0.0" upper="0.48" velocity="10.0"/>
  </joint>
  <joint name="sink_area_trash_drawer_handle_joint" type="fixed">
    <origin xyz="0.3325 0.0 0.2375" rpy="0.0 0.0 0.0"/>
    <axis xyz="0.0 0.0 1.0"/>
    <parent link="sink_area_trash_drawer_main"/>
    <child link="sink_area_trash_drawer_handle"/>
    <limit effort="300.0" lower="0.0" upper="1.57079632679" velocity="10.0"/>
  </joint>
  <link name="sink_area_left_upper_drawer_main">
    <inertial>
      <origin xyz="0.0 0.0 0.0" rpy="0.0 0.0 0.0"/>
      <mass value="1.0"/>
      <inertia ixx="1.0" ixy="0.0" ixz="0.0" iyy="1.0" iyz="0.0" izz="1.0"/>
    </inertial>
    <visual>
      <origin xyz="0.0 0.0 0.0" rpy="0.0 0.0 0.0"/>
      <geometry>
        <mesh filename="package://iai_kitchen/meshes/drawers/Drawer_80_14.obj"/>
      </geometry>
    </visual>
    <collision>
      <origin xyz="0.0 0.0 0.0" rpy="0.0 0.0 0.0"/>
      <geometry>
        <mesh filename="package://iai_kitchen/meshes/drawers/Drawer_80_14.obj"/>
      </geometry>
    </collision>
  </link>
  <link name="sink_area_left_upper_drawer_handle">
    <inertial>
      <origin xyz="0.0 0.0 0.0" rpy="0.0 0.0 0.0"/>
      <mass value="1.0"/>
      <inertia ixx="1.0" ixy="0.0" ixz="0.0" iyy="1.0" iyz="0.0" izz="1.0"/>
    </inertial>
    <visual>
      <origin xyz="0.0 0.0 0.0" rpy="0.0 0.0 0.0"/>
      <geometry>
        <mesh filename="package://iai_kitchen/meshes/handles/Handle80.obj"/>
      </geometry>
    </visual>
    <collision>
      <origin xyz="0.0 0.0 0.0" rpy="0.0 0.0 0.0"/>
      <geometry>
        <mesh filename="package://iai_kitchen/meshes/handles/Handle80.obj"/>
      </geometry>
    </collision>
  </link>
  <joint name="sink_area_left_upper_drawer_main_joint" type="prismatic">
    <origin xyz="0.01 -0.6 0.345" rpy="0.0 0.0 0.0"/>
    <axis xyz="1.0 0.0 0.0"/>
    <parent link="sink_area"/>
    <child link="sink_area_left_upper_drawer_main"/>
    <limit effort="300.0" lower="0.0" upper="0.48" velocity="10.0"/>
  </joint>
  <joint name="sink_area_left_upper_drawer_handle_joint" type="fixed">
    <origin xyz="0.3325 0.0 0.0175" rpy="0.0 0.0 0.0"/>
    <axis xyz="0.0 0.0 1.0"/>
    <parent link="sink_area_left_upper_drawer_main"/>
    <child link="sink_area_left_upper_drawer_handle"/>
    <limit effort="300.0" lower="0.0" upper="1.57079632679" velocity="10.0"/>
  </joint>
  <link name="sink_area_left_middle_drawer_main">
    <inertial>
      <origin xyz="0.0 0.0 0.0" rpy="0.0 0.0 0.0"/>
      <mass value="1.0"/>
      <inertia ixx="1.0" ixy="0.0" ixz="0.0" iyy="1.0" iyz="0.0" izz="1.0"/>
    </inertial>
    <visual>
      <origin xyz="0.0 0.0 0.0" rpy="0.0 0.0 0.0"/>
      <geometry>
        <mesh filename="package://iai_kitchen/meshes/drawers/Drawer_80_29.obj"/>
      </geometry>
    </visual>
    <collision>
      <origin xyz="0.0 0.0 0.0" rpy="0.0 0.0 0.0"/>
      <geometry>
        <mesh filename="package://iai_kitchen/meshes/drawers/Drawer_80_29.obj"/>
      </geometry>
    </collision>
  </link>
  <link name="sink_area_left_middle_drawer_handle">
    <inertial>
      <origin xyz="0.0 0.0 0.0" rpy="0.0 0.0 0.0"/>
      <mass value="1.0"/>
      <inertia ixx="1.0" ixy="0.0" ixz="0.0" iyy="1.0" iyz="0.0" izz="1.0"/>
    </inertial>
    <visual>
      <origin xyz="0.0 0.0 0.0" rpy="0.0 0.0 0.0"/>
      <geometry>
        <mesh filename="package://iai_kitchen/meshes/handles/Handle80.obj"/>
      </geometry>
    </visual>
    <collision>
      <origin xyz="0.0 0.0 0.0" rpy="0.0 0.0 0.0"/>
      <geometry>
        <mesh filename="package://iai_kitchen/meshes/handles/Handle80.obj"/>
      </geometry>
    </collision>
  </link>
  <joint name="sink_area_left_middle_drawer_main_joint" type="prismatic">
    <origin xyz="0.01 -0.6 0.12" rpy="0.0 0.0 0.0"/>
    <axis xyz="1.0 0.0 0.0"/>
    <parent link="sink_area"/>
    <child link="sink_area_left_middle_drawer_main"/>
    <limit effort="300.0" lower="0.0" upper="0.48" velocity="10.0"/>
  </joint>
  <joint name="sink_area_left_middle_drawer_handle_joint" type="fixed">
    <origin xyz="0.3325 0.0 0.11" rpy="0.0 0.0 0.0"/>
    <axis xyz="0.0 0.0 1.0"/>
    <parent link="sink_area_left_middle_drawer_main"/>
    <child link="sink_area_left_middle_drawer_handle"/>
    <limit effort="300.0" lower="0.0" upper="1.57079632679" velocity="10.0"/>
  </joint>
  <link name="sink_area_left_bottom_drawer_main">
    <inertial>
      <origin xyz="0.0 0.0 0.0" rpy="0.0 0.0 0.0"/>
      <mass value="1.0"/>
      <inertia ixx="1.0" ixy="0.0" ixz="0.0" iyy="1.0" iyz="0.0" izz="1.0"/>
    </inertial>
    <visual>
      <origin xyz="0.0 0.0 0.0" rpy="0.0 0.0 0.0"/>
      <geometry>
        <mesh filename="package://iai_kitchen/meshes/drawers/Drawer_80_29.obj"/>
      </geometry>
    </visual>
    <collision>
      <origin xyz="0.0 0.0 0.0" rpy="0.0 0.0 0.0"/>
      <geometry>
        <mesh filename="package://iai_kitchen/meshes/drawers/Drawer_80_29.obj"/>
      </geometry>
    </collision>
  </link>
  <link name="sink_area_left_bottom_drawer_handle">
    <inertial>
      <origin xyz="0.0 0.0 0.0" rpy="0.0 0.0 0.0"/>
      <mass value="1.0"/>
      <inertia ixx="1.0" ixy="0.0" ixz="0.0" iyy="1.0" iyz="0.0" izz="1.0"/>
    </inertial>
    <visual>
      <origin xyz="0.0 0.0 0.0" rpy="0.0 0.0 0.0"/>
      <geometry>
        <mesh filename="package://iai_kitchen/meshes/handles/Handle80.obj"/>
      </geometry>
    </visual>
    <collision>
      <origin xyz="0.0 0.0 0.0" rpy="0.0 0.0 0.0"/>
      <geometry>
        <mesh filename="package://iai_kitchen/meshes/handles/Handle80.obj"/>
      </geometry>
    </collision>
  </link>
  <joint name="sink_area_left_bottom_drawer_main_joint" type="prismatic">
    <origin xyz="0.01 -0.6 -0.18" rpy="0.0 0.0 0.0"/>
    <axis xyz="1.0 0.0 0.0"/>
    <parent link="sink_area"/>
    <child link="sink_area_left_bottom_drawer_main"/>
    <limit effort="300.0" lower="0.0" upper="0.48" velocity="10.0"/>
  </joint>
  <joint name="sink_area_left_bottom_drawer_handle_joint" type="fixed">
    <origin xyz="0.3325 0.0 0.11" rpy="0.0 0.0 0.0"/>
    <axis xyz="0.0 0.0 1.0"/>
    <parent link="sink_area_left_bottom_drawer_main"/>
    <child link="sink_area_left_bottom_drawer_handle"/>
    <limit effort="300.0" lower="0.0" upper="1.57079632679" velocity="10.0"/>
  </joint>
  <link name="sink_area_dish_washer_main">
    <inertial>
      <origin xyz="0.0 0.0 0.0" rpy="0.0 0.0 0.0"/>
      <mass value="1.0"/>
      <inertia ixx="1.0" ixy="0.0" ixz="0.0" iyy="1.0" iyz="0.0" izz="1.0"/>
    </inertial>
    <visual>
      <origin xyz="0.0 0.0 0.0" rpy="0.0 0.0 0.0"/>
      <geometry>
        <mesh filename="package://iai_kitchen/meshes/misc/DishWasher.obj"/>
      </geometry>
    </visual>
    <collision>
      <origin xyz="0.0 0.0 0.0" rpy="0.0 0.0 0.0"/>
      <geometry>
        <mesh filename="package://iai_kitchen/meshes/misc/DishWasher.obj"/>
      </geometry>
    </collision>
  </link>
  <link name="sink_area_dish_washer_door">
    <inertial>
      <origin xyz="0.0 0.0 0.0" rpy="0.0 0.0 0.0"/>
      <mass value="1.0"/>
      <inertia ixx="1.0" ixy="0.0" ixz="0.0" iyy="1.0" iyz="0.0" izz="1.0"/>
    </inertial>
    <visual>
      <origin xyz="0.0 0.0 0.0" rpy="1.57079632679 0.0 0.0"/>
      <geometry>
        <mesh filename="package://iai_kitchen/meshes/misc/DishWasherDoor.obj"/>
      </geometry>
    </visual>
    <collision>
      <origin xyz="0.0 0.0 0.0" rpy="1.57079632679 0.0 0.0"/>
      <geometry>
        <mesh filename="package://iai_kitchen/meshes/misc/DishWasherDoor.obj"/>
      </geometry>
    </collision>
  </link>
  <link name="sink_area_dish_washer_door_handle">
    <inertial>
      <origin xyz="0.0 0.0 0.0" rpy="0.0 0.0 0.0"/>
      <mass value="1.0"/>
      <inertia ixx="1.0" ixy="0.0" ixz="0.0" iyy="1.0" iyz="0.0" izz="1.0"/>
    </inertial>
    <visual>
      <origin xyz="0.0 0.0 0.0" rpy="0.0 0.0 0.0"/>
      <geometry>
        <mesh filename="package://iai_kitchen/meshes/handles/Handle60.obj"/>
      </geometry>
    </visual>
    <collision>
      <origin xyz="0.0 0.0 0.0" rpy="0.0 0.0 0.0"/>
      <geometry>
        <mesh filename="package://iai_kitchen/meshes/handles/Handle60.obj"/>
      </geometry>
    </collision>
  </link>
  <joint name="sink_area_dish_washer_main_joint" type="fixed">
    <origin xyz="0.01 0.1 0.044" rpy="0.0 0.0 0.0"/>
    <axis xyz="1.0 0.0 0.0"/>
    <parent link="sink_area"/>
    <child link="sink_area_dish_washer_main"/>
  </joint>
  <joint name="sink_area_dish_washer_door_joint" type="revolute">
    <origin xyz="0.27 0.0 -0.325" rpy="-1.57079632679 0.03 0.0"/>
    <axis xyz="0.0 0.0 1.0"/>
    <parent link="sink_area_dish_washer_main"/>
    <child link="sink_area_dish_washer_door"/>
    <limit effort="300.0" lower="0.0" upper="1.57079632679" velocity="10.0"/>
  </joint>
  <joint name="sink_area_dish_washer_door_handle_joint" type="fixed">
    <origin xyz="0.0625 -0.6325 0.0" rpy="-1.57079632679 0.0 0.0"/>
    <parent link="sink_area_dish_washer_door"/>
    <child link="sink_area_dish_washer_door_handle"/>
  </joint>
  <link name="oven_area_area_footprint">
    <inertial>
      <origin xyz="0.0 0.0 0.0" rpy="0.0 0.0 0.0"/>
      <mass value="1.0"/>
      <inertia ixx="1.0" ixy="0.0" ixz="0.0" iyy="1.0" iyz="0.0" izz="1.0"/>
    </inertial>
  </link>
  <link name="oven_area_area">
    <inertial>
      <origin xyz="0.0 0.0 0.0" rpy="0.0 0.0 0.0"/>
      <mass value="1.0"/>
      <inertia ixx="1.0" ixy="0.0" ixz="0.0" iyy="1.0" iyz="0.0" izz="1.0"/>
    </inertial>
    <visual>
      <origin xyz="0.0 0.0 0.0" rpy="0.0 0.0 0.0"/>
      <geometry>
        <mesh filename="package://iai_kitchen/meshes/racks/OvenArea.obj"/>
      </geometry>
    </visual>
    <collision>
      <origin xyz="0.0 0.0 0.0" rpy="0.0 0.0 0.0"/>
      <geometry>
        <mesh filename="package://iai_kitchen/meshes/racks/OvenArea.obj"/>
      </geometry>
    </collision>
  </link>
  <joint name="oven_area_footprint_joint" type="fixed">
    <origin xyz="1.805 2.52 0.0" rpy="0.0 0.0 3.14159265359"/>
    <parent link="kitchen_main"/>
    <child link="oven_area_area_footprint"/>
  </joint>
  <joint name="oven_area_main_joint" type="fixed">
    <origin xyz="0.29 0.6 0.755" rpy="0.0 0.0 0.0"/>
    <parent link="oven_area_area_footprint"/>
    <child link="oven_area_area"/>
  </joint>
  <link name="oven_area_oven_main">
    <inertial>
      <origin xyz="0.0 0.0 0.0" rpy="0.0 0.0 0.0"/>
      <mass value="1.0"/>
      <inertia ixx="1.0" ixy="0.0" ixz="0.0" iyy="1.0" iyz="0.0" izz="1.0"/>
    </inertial>
    <visual>
      <origin xyz="0.0 0.0 0.0" rpy="0.0 0.0 0.0"/>
      <geometry>
        <mesh filename="package://iai_kitchen/meshes/oven/OvenMain.obj"/>
      </geometry>
    </visual>
    <collision>
      <origin xyz="0.0 0.0 0.0" rpy="0.0 0.0 0.0"/>
      <geometry>
        <mesh filename="package://iai_kitchen/meshes/oven/OvenMain.obj"/>
      </geometry>
    </collision>
  </link>
  <link name="oven_area_oven_door">
    <inertial>
      <origin xyz="0.0 0.0 0.0" rpy="0.0 0.0 0.0"/>
      <mass value="1.0"/>
      <inertia ixx="1.0" ixy="0.0" ixz="0.0" iyy="1.0" iyz="0.0" izz="1.0"/>
    </inertial>
    <visual>
      <origin xyz="0.0 0.0 0.0" rpy="1.57079632679 0.0 0.0"/>
      <geometry>
        <mesh filename="package://iai_kitchen/meshes/oven/OvenDoor.obj"/>
      </geometry>
    </visual>
    <collision>
      <origin xyz="0.0 0.0 0.0" rpy="1.57079632679 0.0 0.0"/>
      <geometry>
        <mesh filename="package://iai_kitchen/meshes/oven/OvenDoor.obj"/>
      </geometry>
    </collision>
  </link>
  <link name="oven_area_oven_door_handle">
    <inertial>
      <origin xyz="0.0 0.0 0.0" rpy="0.0 0.0 0.0"/>
      <mass value="1.0"/>
      <inertia ixx="1.0" ixy="0.0" ixz="0.0" iyy="1.0" iyz="0.0" izz="1.0"/>
    </inertial>
    <visual>
      <origin xyz="0.0 0.0 0.0" rpy="0.0 0.0 0.0"/>
      <geometry>
        <mesh filename="package://iai_kitchen/meshes/handles/Handle60.obj"/>
      </geometry>
    </visual>
    <collision>
      <origin xyz="0.0 0.0 0.0" rpy="0.0 0.0 0.0"/>
      <geometry>
        <mesh filename="package://iai_kitchen/meshes/handles/Handle60.obj"/>
      </geometry>
    </collision>
  </link>
  <link name="oven_area_oven_panel">
    <inertial>
      <origin xyz="0.0 0.0 0.0" rpy="0.0 0.0 0.0"/>
      <mass value="1.0"/>
      <inertia ixx="1.0" ixy="0.0" ixz="0.0" iyy="1.0" iyz="0.0" izz="1.0"/>
    </inertial>
    <visual>
      <origin xyz="0.0 0.0 0.0" rpy="0.0 0.0 0.0"/>
      <geometry>
        <mesh filename="package://iai_kitchen/meshes/oven/OvenPanel.obj"/>
      </geometry>
    </visual>
    <collision>
      <origin xyz="0.0 0.0 0.0" rpy="0.0 0.0 0.0"/>
      <geometry>
        <mesh filename="package://iai_kitchen/meshes/oven/OvenPanel.obj"/>
      </geometry>
    </collision>
  </link>
  <joint name="oven_area_oven_main_joint" type="fixed">
    <origin xyz="0.0 0.0 0.415" rpy="0.0 0.0 0.0"/>
    <parent link="oven_area_area"/>
    <child link="oven_area_oven_main"/>
  </joint>
  <joint name="oven_area_oven_door_joint" type="revolute">
    <origin xyz="0.2737 0.0 -0.2614" rpy="-1.57079632679 0.0 0.0"/>
    <axis xyz="0.0 0.0 1.0"/>
    <parent link="oven_area_oven_main"/>
    <child link="oven_area_oven_door"/>
    <limit effort="0.03" lower="0.0" upper="0.0" velocity="10.0"/>
    <dynamics damping="100.1"/>
  </joint>
  <gazebo reference="oven_area_oven_door_joint">
    <kp>1000000000</kp>
    <kd>1000000000</kd>
  </gazebo>
  <joint name="oven_area_oven_door_handle_joint" type="fixed">
    <origin xyz="0.05876 -0.39803 0.0" rpy="-1.57079632679 0.0 0.0"/>
    <axis xyz="0.0 0.0 1.0"/>
    <parent link="oven_area_oven_door"/>
    <child link="oven_area_oven_door_handle"/>
    <limit effort="300.0" lower="0.0" upper="1.57079632679" velocity="10.0"/>
  </joint>
  <joint name="oven_area_oven_panel_joint" type="fixed">
    <origin xyz="0.27 0.0 0.2449" rpy="0.0 0.0 0.0"/>
    <parent link="oven_area_oven_main"/>
    <child link="oven_area_oven_panel"/>
  </joint>
  <link name="oven_area_oven_knob_stove_1">
    <inertial>
      <origin xyz="0.0 0.0 0.0" rpy="0.0 0.0 0.0"/>
      <mass value="1.0"/>
      <inertia ixx="1.0" ixy="0.0" ixz="0.0" iyy="1.0" iyz="0.0" izz="1.0"/>
    </inertial>
    <visual>
      <origin xyz="0.0 0.0 0.0" rpy="0.0 1.57079632679 0.0"/>
      <geometry>
        <mesh filename="package://iai_kitchen/meshes/oven/Knob.obj"/>
      </geometry>
    </visual>
    <collision>
      <origin xyz="0.0 0.0 0.0" rpy="0.0 1.57079632679 0.0"/>
      <geometry>
        <mesh filename="package://iai_kitchen/meshes/oven/Knob.obj"/>
      </geometry>
    </collision>
  </link>
  <joint name="oven_area_oven_knob_stove_1_joint" type="revolute">
    <origin xyz="0.0 -0.21 0.0" rpy="0.0 -1.57079632679 0.0"/>
    <axis xyz="0.0 0.0 1.0"/>
    <parent link="oven_area_oven_panel"/>
    <child link="oven_area_oven_knob_stove_1"/>
    <limit effort="300.0" lower="0.0" upper="3.14159265359" velocity="10.0"/>
  </joint>
  <link name="oven_area_oven_knob_stove_2">
    <inertial>
      <origin xyz="0.0 0.0 0.0" rpy="0.0 0.0 0.0"/>
      <mass value="1.0"/>
      <inertia ixx="1.0" ixy="0.0" ixz="0.0" iyy="1.0" iyz="0.0" izz="1.0"/>
    </inertial>
    <visual>
      <origin xyz="0.0 0.0 0.0" rpy="0.0 1.57079632679 0.0"/>
      <geometry>
        <mesh filename="package://iai_kitchen/meshes/oven/Knob.obj"/>
      </geometry>
    </visual>
    <collision>
      <origin xyz="0.0 0.0 0.0" rpy="0.0 1.57079632679 0.0"/>
      <geometry>
        <mesh filename="package://iai_kitchen/meshes/oven/Knob.obj"/>
      </geometry>
    </collision>
  </link>
  <joint name="oven_area_oven_knob_stove_2_joint" type="revolute">
    <origin xyz="0.0 -0.14 0.0" rpy="0.0 -1.57079632679 0.0"/>
    <axis xyz="0.0 0.0 1.0"/>
    <parent link="oven_area_oven_panel"/>
    <child link="oven_area_oven_knob_stove_2"/>
    <limit effort="300.0" lower="0.0" upper="3.14159265359" velocity="10.0"/>
  </joint>
  <link name="oven_area_oven_knob_stove_3">
    <inertial>
      <origin xyz="0.0 0.0 0.0" rpy="0.0 0.0 0.0"/>
      <mass value="1.0"/>
      <inertia ixx="1.0" ixy="0.0" ixz="0.0" iyy="1.0" iyz="0.0" izz="1.0"/>
    </inertial>
    <visual>
      <origin xyz="0.0 0.0 0.0" rpy="0.0 1.57079632679 0.0"/>
      <geometry>
        <mesh filename="package://iai_kitchen/meshes/oven/Knob.obj"/>
      </geometry>
    </visual>
    <collision>
      <origin xyz="0.0 0.0 0.0" rpy="0.0 1.57079632679 0.0"/>
      <geometry>
        <mesh filename="package://iai_kitchen/meshes/oven/Knob.obj"/>
      </geometry>
    </collision>
  </link>
  <joint name="oven_area_oven_knob_stove_3_joint" type="revolute">
    <origin xyz="0.0 -0.07 0.0" rpy="0.0 -1.57079632679 0.0"/>
    <axis xyz="0.0 0.0 1.0"/>
    <parent link="oven_area_oven_panel"/>
    <child link="oven_area_oven_knob_stove_3"/>
    <limit effort="300.0" lower="0.0" upper="3.14159265359" velocity="10.0"/>
  </joint>
  <link name="oven_area_oven_knob_stove_4">
    <inertial>
      <origin xyz="0.0 0.0 0.0" rpy="0.0 0.0 0.0"/>
      <mass value="1.0"/>
      <inertia ixx="1.0" ixy="0.0" ixz="0.0" iyy="1.0" iyz="0.0" izz="1.0"/>
    </inertial>
    <visual>
      <origin xyz="0.0 0.0 0.0" rpy="0.0 1.57079632679 0.0"/>
      <geometry>
        <mesh filename="package://iai_kitchen/meshes/oven/Knob.obj"/>
      </geometry>
    </visual>
    <collision>
      <origin xyz="0.0 0.0 0.0" rpy="0.0 1.57079632679 0.0"/>
      <geometry>
        <mesh filename="package://iai_kitchen/meshes/oven/Knob.obj"/>
      </geometry>
    </collision>
  </link>
  <joint name="oven_area_oven_knob_stove_4_joint" type="revolute">
    <origin xyz="0.0 -0.0 0.0" rpy="0.0 -1.57079632679 0.0"/>
    <axis xyz="0.0 0.0 1.0"/>
    <parent link="oven_area_oven_panel"/>
    <child link="oven_area_oven_knob_stove_4"/>
    <limit effort="300.0" lower="0.0" upper="3.14159265359" velocity="10.0"/>
  </joint>
  <link name="oven_area_oven_knob_oven">
    <inertial>
      <origin xyz="0.0 0.0 0.0" rpy="0.0 0.0 0.0"/>
      <mass value="1.0"/>
      <inertia ixx="1.0" ixy="0.0" ixz="0.0" iyy="1.0" iyz="0.0" izz="1.0"/>
    </inertial>
    <visual>
      <origin xyz="0.0 0.0 0.0" rpy="0.0 1.57079632679 0.0"/>
      <geometry>
        <mesh filename="package://iai_kitchen/meshes/oven/Knob.obj"/>
      </geometry>
    </visual>
    <collision>
      <origin xyz="0.0 0.0 0.0" rpy="0.0 1.57079632679 0.0"/>
      <geometry>
        <mesh filename="package://iai_kitchen/meshes/oven/Knob.obj"/>
      </geometry>
    </collision>
  </link>
  <joint name="oven_area_oven_knob_oven_joint" type="revolute">
    <origin xyz="0.0 0.16 0.0" rpy="0.0 -1.57079632679 0.0"/>
    <axis xyz="0.0 0.0 1.0"/>
    <parent link="oven_area_oven_panel"/>
    <child link="oven_area_oven_knob_oven"/>
    <limit effort="300.0" lower="0.0" upper="3.14159265359" velocity="10.0"/>
  </joint>
  <link name="oven_area_area_middle_upper_drawer_main">
    <inertial>
      <origin xyz="0.0 0.0 0.0" rpy="0.0 0.0 0.0"/>
      <mass value="1.0"/>
      <inertia ixx="1.0" ixy="0.0" ixz="0.0" iyy="1.0" iyz="0.0" izz="1.0"/>
    </inertial>
    <visual>
      <origin xyz="0.0 0.0 0.0" rpy="0.0 0.0 0.0"/>
      <geometry>
        <mesh filename="package://iai_kitchen/meshes/drawers/Drawer_60_14.obj"/>
      </geometry>
    </visual>
    <collision>
      <origin xyz="0.0 0.0 0.0" rpy="0.0 0.0 0.0"/>
      <geometry>
        <mesh filename="package://iai_kitchen/meshes/drawers/Drawer_60_14.obj"/>
      </geometry>
    </collision>
  </link>
  <link name="oven_area_area_middle_upper_drawer_handle">
    <inertial>
      <origin xyz="0.0 0.0 0.0" rpy="0.0 0.0 0.0"/>
      <mass value="1.0"/>
      <inertia ixx="1.0" ixy="0.0" ixz="0.0" iyy="1.0" iyz="0.0" izz="1.0"/>
    </inertial>
    <visual>
      <origin xyz="0.0 0.0 0.0" rpy="0.0 0.0 0.0"/>
      <geometry>
        <mesh filename="package://iai_kitchen/meshes/handles/Handle60.obj"/>
      </geometry>
    </visual>
    <collision>
      <origin xyz="0.0 0.0 0.0" rpy="0.0 0.0 0.0"/>
      <geometry>
        <mesh filename="package://iai_kitchen/meshes/handles/Handle60.obj"/>
      </geometry>
    </collision>
  </link>
  <joint name="oven_area_area_middle_upper_drawer_main_joint" type="prismatic">
    <origin xyz="0.0 -0.0 0.045" rpy="0.0 0.0 0.0"/>
    <axis xyz="1.0 0.0 0.0"/>
    <parent link="oven_area_area"/>
    <child link="oven_area_area_middle_upper_drawer_main"/>
    <limit effort="300.0" lower="0.0" upper="0.48" velocity="10.0"/>
  </joint>
  <joint name="oven_area_area_middle_upper_drawer_handle_joint" type="fixed">
    <origin xyz="0.3325 0.0 0.0175" rpy="0.0 0.0 0.0"/>
    <axis xyz="0.0 0.0 1.0"/>
    <parent link="oven_area_area_middle_upper_drawer_main"/>
    <child link="oven_area_area_middle_upper_drawer_handle"/>
    <limit effort="300.0" lower="0.0" upper="1.57079632679" velocity="10.0"/>
  </joint>
  <link name="oven_area_area_middle_lower_drawer_main">
    <inertial>
      <origin xyz="0.0 0.0 0.0" rpy="0.0 0.0 0.0"/>
      <mass value="1.0"/>
      <inertia ixx="1.0" ixy="0.0" ixz="0.0" iyy="1.0" iyz="0.0" izz="1.0"/>
    </inertial>
    <visual>
      <origin xyz="0.0 0.0 0.0" rpy="0.0 0.0 0.0"/>
      <geometry>
        <mesh filename="package://iai_kitchen/meshes/drawers/Drawer_60_58.obj"/>
      </geometry>
    </visual>
    <collision>
      <origin xyz="0.0 0.0 0.0" rpy="0.0 0.0 0.0"/>
      <geometry>
        <mesh filename="package://iai_kitchen/meshes/drawers/Drawer_60_58.obj"/>
      </geometry>
    </collision>
  </link>
  <link name="oven_area_area_middle_lower_drawer_handle">
    <inertial>
      <origin xyz="0.0 0.0 0.0" rpy="0.0 0.0 0.0"/>
      <mass value="1.0"/>
      <inertia ixx="1.0" ixy="0.0" ixz="0.0" iyy="1.0" iyz="0.0" izz="1.0"/>
    </inertial>
    <visual>
      <origin xyz="0.0 0.0 0.0" rpy="0.0 0.0 0.0"/>
      <geometry>
        <mesh filename="package://iai_kitchen/meshes/handles/Handle60.obj"/>
      </geometry>
    </visual>
    <collision>
      <origin xyz="0.0 0.0 0.0" rpy="0.0 0.0 0.0"/>
      <geometry>
        <mesh filename="package://iai_kitchen/meshes/handles/Handle60.obj"/>
      </geometry>
    </collision>
  </link>
  <joint name="oven_area_area_middle_lower_drawer_main_joint" type="prismatic">
    <origin xyz="0.0 -0.0 -0.315" rpy="0.0 0.0 0.0"/>
    <axis xyz="1.0 0.0 0.0"/>
    <parent link="oven_area_area"/>
    <child link="oven_area_area_middle_lower_drawer_main"/>
    <limit effort="300.0" lower="0.0" upper="0.48" velocity="10.0"/>
  </joint>
  <joint name="oven_area_area_middle_lower_drawer_handle_joint" type="fixed">
    <origin xyz="0.3325 0.0 0.2375" rpy="0.0 0.0 0.0"/>
    <axis xyz="0.0 0.0 1.0"/>
    <parent link="oven_area_area_middle_lower_drawer_main"/>
    <child link="oven_area_area_middle_lower_drawer_handle"/>
    <limit effort="300.0" lower="0.0" upper="1.57079632679" velocity="10.0"/>
  </joint>
  <link name="oven_area_area_left_drawer_main">
    <inertial>
      <origin xyz="0.0 0.0 0.0" rpy="0.0 0.0 0.0"/>
      <mass value="1.0"/>
      <inertia ixx="1.0" ixy="0.0" ixz="0.0" iyy="1.0" iyz="0.0" izz="1.0"/>
    </inertial>
    <visual>
      <origin xyz="0.0 0.0 0.0" rpy="0.0 0.0 0.0"/>
      <geometry>
        <mesh filename="package://iai_kitchen/meshes/drawers/VDrawer.obj"/>
      </geometry>
    </visual>
    <collision>
      <origin xyz="0.0 0.0 0.0" rpy="0.0 0.0 0.0"/>
      <geometry>
        <mesh filename="package://iai_kitchen/meshes/drawers/VDrawer.obj"/>
      </geometry>
    </collision>
  </link>
  <link name="oven_area_area_left_drawer_handle">
    <inertial>
      <origin xyz="0.0 0.0 0.0" rpy="0.0 0.0 0.0"/>
      <mass value="1.0"/>
      <inertia ixx="1.0" ixy="0.0" ixz="0.0" iyy="1.0" iyz="0.0" izz="1.0"/>
    </inertial>
    <visual>
      <origin xyz="0.0 0.0 0.0" rpy="0.0 0.0 0.0"/>
      <geometry>
        <mesh filename="package://iai_kitchen/meshes/handles/VHandle130.obj"/>
      </geometry>
    </visual>
    <collision>
      <origin xyz="0.0 0.0 0.0" rpy="0.0 0.0 0.0"/>
      <geometry>
        <mesh filename="package://iai_kitchen/meshes/handles/VHandle130.obj"/>
      </geometry>
    </collision>
  </link>
  <joint name="oven_area_area_left_drawer_main_joint" type="prismatic">
    <origin xyz="0.0 -0.45 0.06" rpy="0.0 0.0 0.0"/>
    <axis xyz="1.0 0.0 0.0"/>
    <parent link="oven_area_area"/>
    <child link="oven_area_area_left_drawer_main"/>
    <limit effort="300.0" lower="0.0" upper="0.48" velocity="10.0"/>
  </joint>
  <joint name="oven_area_area_left_drawer_handle_joint" type="fixed">
    <origin xyz="0.3525 0.0 0.0" rpy="0.0 0.0 0.0"/>
    <axis xyz="0.0 0.0 1.0"/>
    <parent link="oven_area_area_left_drawer_main"/>
    <child link="oven_area_area_left_drawer_handle"/>
    <limit effort="300.0" lower="0.0" upper="1.57079632679" velocity="10.0"/>
  </joint>
  <joint name="oven_area_area_right_drawer_joint" type="prismatic">
    <origin xyz="0.02 0.44 0.05" rpy="0.0 0.0 0.0"/>
    <axis xyz="0.999 0.0 0.044"/>
    <parent link="oven_area_area"/>
    <child link="oven_area_area_right_drawer_main"/>
    <limit effort="300.0" lower="0.0" upper="0.48" velocity="10.0"/>
  </joint>
  <link name="oven_area_area_right_drawer_main">
    <inertial>
      <mass value="0.1"/>
      <inertia ixx="4e-08" ixy="0.0" ixz="0.0" iyy="4e-08" iyz="0.0" izz="4e-08"/>
    </inertial>
  </link>
  <joint name="drawer_oven_right_front_joint" type="fixed">
    <origin xyz="0.25 0.0 0.0" rpy="0.0 0.0 0.0"/>
    <parent link="oven_area_area_right_drawer_main"/>
    <child link="drawer_oven_right_front_link"/>
  </joint>
  <link name="drawer_oven_right_front_link">
    <inertial>
      <mass value="1.0"/>
      <inertia ixx="0.153554166667" ixy="0.0" ixz="0.0" iyy="0.0348041666667" iyz="0.0" izz="0.173854166667"/>
    </inertial>
    <visual>
      <origin xyz="0.0 0.0 0.0" rpy="0.0 0.0 0.0"/>
      <geometry>
        <box size="0.025 0.295 1.325"/>
      </geometry>
    </visual>
    <collision>
      <origin xyz="0.0 0.0 0.0" rpy="0.0 0.0 0.0"/>
      <geometry>
        <box size="0.025 0.3 1.33"/>
      </geometry>
    </collision>
  </link>
  <link name="drawer_oven_right_board0_link">
    <inertial>
      <mass value="1.0"/>
      <inertia ixx="0.153554166667" ixy="0.0" ixz="0.0" iyy="0.0348041666667" iyz="0.0" izz="0.173854166667"/>
    </inertial>
    <visual>
      <origin xyz="0.0 0.0 0.0" rpy="0.0 0.0 0.0"/>
      <geometry>
        <box size="0.49 0.27 0.025"/>
      </geometry>
    </visual>
    <collision>
      <origin xyz="0.0 0.0 0.0" rpy="0.0 0.0 0.0"/>
      <geometry>
        <box size="0.49 0.27 0.025"/>
      </geometry>
    </collision>
  </link>
  <joint name="drawer_oven_right_board0_joint" type="fixed">
    <origin xyz="0.0 0.0 -0.655" rpy="0 0 0"/>
    <parent link="oven_area_area_right_drawer_main"/>
    <child link="drawer_oven_right_board0_link"/>
  </joint>
  <link name="drawer_oven_right_board0_barrier_right_link">
    <inertial>
      <mass value="1.0"/>
      <inertia ixx="0.153554166667" ixy="0.0" ixz="0.0" iyy="0.0348041666667" iyz="0.0" izz="0.173854166667"/>
    </inertial>
    <visual>
      <origin xyz="0.0 0.0 0.0" rpy="0.0 0.0 0.0"/>
      <geometry>
        <box size="0.49 0.02 0.05"/>
      </geometry>
    </visual>
    <collision>
      <origin xyz="0.0 0.0 0.0" rpy="0.0 0.0 0.0"/>
      <geometry>
        <box size="0.49 0.02 0.05"/>
      </geometry>
    </collision>
  </link>
  <joint name="drawer_oven_right_board0_barrier_right_joint" type="fixed">
    <origin xyz="0.0 -0.135 -0.62" rpy="0 0 0"/>
    <parent link="oven_area_area_right_drawer_main"/>
    <child link="drawer_oven_right_board0_barrier_right_link"/>
  </joint>
  <link name="drawer_oven_right_board0_barrier_left_link">
    <inertial>
      <mass value="1.0"/>
      <inertia ixx="0.153554166667" ixy="0.0" ixz="0.0" iyy="0.0348041666667" iyz="0.0" izz="0.173854166667"/>
    </inertial>
    <visual>
      <origin xyz="0.0 0.0 0.0" rpy="0.0 0.0 0.0"/>
      <geometry>
        <box size="0.49 0.02 0.05"/>
      </geometry>
    </visual>
    <collision>
      <origin xyz="0.0 0.0 0.0" rpy="0.0 0.0 0.0"/>
      <geometry>
        <box size="0.49 0.02 0.05"/>
      </geometry>
    </collision>
  </link>
  <joint name="drawer_oven_right_board0_barrier_left_joint" type="fixed">
    <origin xyz="0.0 0.135 -0.62" rpy="0 0 0"/>
    <parent link="oven_area_area_right_drawer_main"/>
    <child link="drawer_oven_right_board0_barrier_left_link"/>
  </joint>
  <link name="drawer_oven_right_board1_link">
    <inertial>
      <mass value="1.0"/>
      <inertia ixx="0.153554166667" ixy="0.0" ixz="0.0" iyy="0.0348041666667" iyz="0.0" izz="0.173854166667"/>
    </inertial>
    <visual>
      <origin xyz="0.0 0.0 0.0" rpy="0.0 0.0 0.0"/>
      <geometry>
        <box size="0.49 0.27 0.025"/>
      </geometry>
    </visual>
    <collision>
      <origin xyz="0.0 0.0 0.0" rpy="0.0 0.0 0.0"/>
      <geometry>
        <box size="0.49 0.27 0.025"/>
      </geometry>
    </collision>
  </link>
  <joint name="drawer_oven_right_board1_joint" type="fixed">
    <origin xyz="0.0 0.0 -0.33" rpy="0 0 0"/>
    <parent link="oven_area_area_right_drawer_main"/>
    <child link="drawer_oven_right_board1_link"/>
  </joint>
  <link name="drawer_oven_right_board1_barrier_right_link">
    <inertial>
      <mass value="1.0"/>
      <inertia ixx="0.153554166667" ixy="0.0" ixz="0.0" iyy="0.0348041666667" iyz="0.0" izz="0.173854166667"/>
    </inertial>
    <visual>
      <origin xyz="0.0 0.0 0.0" rpy="0.0 0.0 0.0"/>
      <geometry>
        <box size="0.49 0.02 0.05"/>
      </geometry>
    </visual>
    <collision>
      <origin xyz="0.0 0.0 0.0" rpy="0.0 0.0 0.0"/>
      <geometry>
        <box size="0.49 0.02 0.05"/>
      </geometry>
    </collision>
  </link>
  <joint name="drawer_oven_right_board1_barrier_right_joint" type="fixed">
    <origin xyz="0.0 -0.135 -0.295" rpy="0 0 0"/>
    <parent link="oven_area_area_right_drawer_main"/>
    <child link="drawer_oven_right_board1_barrier_right_link"/>
  </joint>
  <link name="drawer_oven_right_board1_barrier_left_link">
    <inertial>
      <mass value="1.0"/>
      <inertia ixx="0.153554166667" ixy="0.0" ixz="0.0" iyy="0.0348041666667" iyz="0.0" izz="0.173854166667"/>
    </inertial>
    <visual>
      <origin xyz="0.0 0.0 0.0" rpy="0.0 0.0 0.0"/>
      <geometry>
        <box size="0.49 0.02 0.05"/>
      </geometry>
    </visual>
    <collision>
      <origin xyz="0.0 0.0 0.0" rpy="0.0 0.0 0.0"/>
      <geometry>
        <box size="0.49 0.02 0.05"/>
      </geometry>
    </collision>
  </link>
  <joint name="drawer_oven_right_board1_barrier_left_joint" type="fixed">
    <origin xyz="0.0 0.135 -0.295" rpy="0 0 0"/>
    <parent link="oven_area_area_right_drawer_main"/>
    <child link="drawer_oven_right_board1_barrier_left_link"/>
  </joint>
  <link name="drawer_oven_right_board2_link">
    <inertial>
      <mass value="1.0"/>
      <inertia ixx="0.153554166667" ixy="0.0" ixz="0.0" iyy="0.0348041666667" iyz="0.0" izz="0.173854166667"/>
    </inertial>
    <visual>
      <origin xyz="0.0 0.0 0.0" rpy="0.0 0.0 0.0"/>
      <geometry>
        <box size="0.49 0.27 0.025"/>
      </geometry>
    </visual>
    <collision>
      <origin xyz="0.0 0.0 0.0" rpy="0.0 0.0 0.0"/>
      <geometry>
        <box size="0.49 0.27 0.025"/>
      </geometry>
    </collision>
  </link>
  <joint name="drawer_oven_right_board2_joint" type="fixed">
    <origin xyz="0.0 0.0 0.0" rpy="0 0 0"/>
    <parent link="oven_area_area_right_drawer_main"/>
    <child link="drawer_oven_right_board2_link"/>
  </joint>
  <link name="drawer_oven_right_board2_barrier_right_link">
    <inertial>
      <mass value="1.0"/>
      <inertia ixx="0.153554166667" ixy="0.0" ixz="0.0" iyy="0.0348041666667" iyz="0.0" izz="0.173854166667"/>
    </inertial>
    <visual>
      <origin xyz="0.0 0.0 0.0" rpy="0.0 0.0 0.0"/>
      <geometry>
        <box size="0.49 0.02 0.05"/>
      </geometry>
    </visual>
    <collision>
      <origin xyz="0.0 0.0 0.0" rpy="0.0 0.0 0.0"/>
      <geometry>
        <box size="0.49 0.02 0.05"/>
      </geometry>
    </collision>
  </link>
  <joint name="drawer_oven_right_board2_barrier_right_joint" type="fixed">
    <origin xyz="0.0 -0.135 0.035" rpy="0 0 0"/>
    <parent link="oven_area_area_right_drawer_main"/>
    <child link="drawer_oven_right_board2_barrier_right_link"/>
  </joint>
  <link name="drawer_oven_right_board2_barrier_left_link">
    <inertial>
      <mass value="1.0"/>
      <inertia ixx="0.153554166667" ixy="0.0" ixz="0.0" iyy="0.0348041666667" iyz="0.0" izz="0.173854166667"/>
    </inertial>
    <visual>
      <origin xyz="0.0 0.0 0.0" rpy="0.0 0.0 0.0"/>
      <geometry>
        <box size="0.49 0.02 0.05"/>
      </geometry>
    </visual>
    <collision>
      <origin xyz="0.0 0.0 0.0" rpy="0.0 0.0 0.0"/>
      <geometry>
        <box size="0.49 0.02 0.05"/>
      </geometry>
    </collision>
  </link>
  <joint name="drawer_oven_right_board2_barrier_left_joint" type="fixed">
    <origin xyz="0.0 0.135 0.035" rpy="0 0 0"/>
    <parent link="oven_area_area_right_drawer_main"/>
    <child link="drawer_oven_right_board2_barrier_left_link"/>
  </joint>
  <link name="drawer_oven_right_board3_link">
    <inertial>
      <mass value="1.0"/>
      <inertia ixx="0.153554166667" ixy="0.0" ixz="0.0" iyy="0.0348041666667" iyz="0.0" izz="0.173854166667"/>
    </inertial>
    <visual>
      <origin xyz="0.0 0.0 0.0" rpy="0.0 0.0 0.0"/>
      <geometry>
        <box size="0.49 0.27 0.025"/>
      </geometry>
    </visual>
    <collision>
      <origin xyz="0.0 0.0 0.0" rpy="0.0 0.0 0.0"/>
      <geometry>
        <box size="0.49 0.27 0.025"/>
      </geometry>
    </collision>
  </link>
  <joint name="drawer_oven_right_board3_joint" type="fixed">
    <origin xyz="0.0 0.0 0.33" rpy="0 0 0"/>
    <parent link="oven_area_area_right_drawer_main"/>
    <child link="drawer_oven_right_board3_link"/>
  </joint>
  <link name="drawer_oven_right_board3_barrier_right_link">
    <inertial>
      <mass value="1.0"/>
      <inertia ixx="0.153554166667" ixy="0.0" ixz="0.0" iyy="0.0348041666667" iyz="0.0" izz="0.173854166667"/>
    </inertial>
    <visual>
      <origin xyz="0.0 0.0 0.0" rpy="0.0 0.0 0.0"/>
      <geometry>
        <box size="0.49 0.02 0.05"/>
      </geometry>
    </visual>
    <collision>
      <origin xyz="0.0 0.0 0.0" rpy="0.0 0.0 0.0"/>
      <geometry>
        <box size="0.49 0.02 0.05"/>
      </geometry>
    </collision>
  </link>
  <joint name="drawer_oven_right_board3_barrier_right_joint" type="fixed">
    <origin xyz="0.0 -0.135 0.365" rpy="0 0 0"/>
    <parent link="oven_area_area_right_drawer_main"/>
    <child link="drawer_oven_right_board3_barrier_right_link"/>
  </joint>
  <link name="drawer_oven_right_board3_barrier_left_link">
    <inertial>
      <mass value="1.0"/>
      <inertia ixx="0.153554166667" ixy="0.0" ixz="0.0" iyy="0.0348041666667" iyz="0.0" izz="0.173854166667"/>
    </inertial>
    <visual>
      <origin xyz="0.0 0.0 0.0" rpy="0.0 0.0 0.0"/>
      <geometry>
        <box size="0.49 0.02 0.05"/>
      </geometry>
    </visual>
    <collision>
      <origin xyz="0.0 0.0 0.0" rpy="0.0 0.0 0.0"/>
      <geometry>
        <box size="0.49 0.02 0.05"/>
      </geometry>
    </collision>
  </link>
  <joint name="drawer_oven_right_board3_barrier_left_joint" type="fixed">
    <origin xyz="0.0 0.135 0.365" rpy="0 0 0"/>
    <parent link="oven_area_area_right_drawer_main"/>
    <child link="drawer_oven_right_board3_barrier_left_link"/>
  </joint>
  <joint name="oven_area_area_right_drawer_handle_joint" type="fixed">
    <origin xyz="0.05 0.0 0.0" rpy="0.0 0.0 0.0"/>
    <parent link="drawer_oven_right_front_link"/>
    <child link="oven_area_area_right_drawer_handle"/>
  </joint>
  <link name="oven_area_area_right_drawer_handle">
    <inertial>
      <mass value="0.1"/>
      <inertia ixx="0.0127110416667" ixy="0.0" ixz="0.0" iyy="1.66666666667e-06" iyz="0.0" izz="0.0127110416667"/>
    </inertial>
    <visual>
      <origin xyz="0.0 0.0 0.0" rpy="0.0 0.0 0.0"/>
      <geometry>
        <box size="0.01 0.01 1.235"/>
      </geometry>
    </visual>
    <collision>
      <origin xyz="0.0 0.0 0.0" rpy="0.0 0.0 0.0"/>
      <geometry>
        <box size="0.015 0.015 1.24"/>
      </geometry>
    </collision>
  </link>
  <link name="kitchen_island_footprint">
    <inertial>
      <origin xyz="0.0 0.0 0.0" rpy="0.0 0.0 0.0"/>
      <mass value="1.0"/>
      <inertia ixx="1.0" ixy="0.0" ixz="0.0" iyy="1.0" iyz="0.0" izz="1.0"/>
    </inertial>
  </link>
  <link name="kitchen_island">
    <inertial>
      <origin xyz="0.0 0.0 0.0" rpy="0.0 0.0 0.0"/>
      <mass value="1.0"/>
      <inertia ixx="1.0" ixy="0.0" ixz="0.0" iyy="1.0" iyz="0.0" izz="1.0"/>
    </inertial>
    <visual>
      <origin xyz="0.0 0.0 0.0" rpy="0.0 0.0 0.0"/>
      <geometry>
        <mesh filename="package://iai_kitchen/meshes/racks/IslandArea.obj"/>
      </geometry>
    </visual>
    <collision>
      <origin xyz="0.0 0.0 0.0" rpy="0.0 0.0 0.0"/>
      <geometry>
        <mesh filename="package://iai_kitchen/meshes/racks/IslandArea.obj"/>
      </geometry>
    </collision>
  </link>
  <joint name="kitchen_island_footprint_joint" type="fixed">
    <origin xyz="-1.365 0.64 0.0" rpy="0.0 0.0 0.0"/>
    <parent link="kitchen_main"/>
    <child link="kitchen_island_footprint"/>
  </joint>
  <joint name="kitchen_island_joint" type="fixed">
    <origin xyz="0.2975 1.05 0.421" rpy="0.0 0.0 0.0"/>
    <parent link="kitchen_island_footprint"/>
    <child link="kitchen_island"/>
  </joint>
  <link name="kitchen_island_surface">
    <inertial>
      <origin xyz="0.0 0.0 0.0" rpy="0.0 0.0 0.0"/>
      <mass value="1.0"/>
      <inertia ixx="1.0" ixy="0.0" ixz="0.0" iyy="1.0" iyz="0.0" izz="1.0"/>
    </inertial>
    <collision>
      <origin xyz="0.0 0.0 0.0" rpy="0.0 0.0 0.0"/>
      <geometry>
        <box size="0.8 2.45 0.02"/>
      </geometry>
    </collision>
  </link>
  <joint name="kitchen_island_surface_joint" type="fixed">
    <origin xyz="0.0 0.0 0.42" rpy="0.0 0.0 0.0"/>
    <parent link="kitchen_island"/>
    <child link="kitchen_island_surface"/>
  </joint>
  <link name="kitchen_island_stove">
    <inertial>
      <origin xyz="0.0 0.0 0.0" rpy="0.0 0.0 0.0"/>
      <mass value="1.0"/>
      <inertia ixx="1.0" ixy="0.0" ixz="0.0" iyy="1.0" iyz="0.0" izz="1.0"/>
    </inertial>
    <visual>
      <origin xyz="0.0 0.0 0.0" rpy="0.0 0.0 0.0"/>
      <geometry>
        <mesh filename="package://iai_kitchen/meshes/misc/Stove.obj"/>
      </geometry>
    </visual>
    <collision>
      <origin xyz="0.0 0.0 0.0" rpy="0.0 0.0 0.0"/>
      <geometry>
        <mesh filename="package://iai_kitchen/meshes/misc/Stove.obj"/>
      </geometry>
    </collision>
  </link>
  <joint name="kitchen_island_stove_joint" type="fixed">
    <origin xyz="0.0 0.7658 0.4315" rpy="0.0 0.0 0.0"/>
    <parent link="kitchen_island"/>
    <child link="kitchen_island_stove"/>
  </joint>
  <link name="kitchen_island_left_panel">
    <inertial>
      <origin xyz="0.0 0.0 0.0" rpy="0.0 0.0 0.0"/>
      <mass value="1.0"/>
      <inertia ixx="1.0" ixy="0.0" ixz="0.0" iyy="1.0" iyz="0.0" izz="1.0"/>
    </inertial>
    <visual>
      <origin xyz="0.0 0.0 0.0" rpy="0.0 0.0 0.0"/>
      <geometry>
        <mesh filename="package://iai_kitchen/meshes/drawers/Panel_60.obj"/>
      </geometry>
    </visual>
    <collision>
      <origin xyz="0.0 0.0 0.0" rpy="0.0 0.0 0.0"/>
      <geometry>
        <mesh filename="package://iai_kitchen/meshes/drawers/Panel_60.obj"/>
      </geometry>
    </collision>
  </link>
  <joint name="kitchen_island_left_panel_joint" type="fixed">
    <origin xyz="0.2725 -0.8 0.329" rpy="0.0 0.0 0.0"/>
    <parent link="kitchen_island"/>
    <child link="kitchen_island_left_panel"/>
  </joint>
  <link name="kitchen_island_left_upper_drawer_main">
    <inertial>
      <origin xyz="0.0 0.0 0.0" rpy="0.0 0.0 0.0"/>
      <mass value="1.0"/>
      <inertia ixx="1.0" ixy="0.0" ixz="0.0" iyy="1.0" iyz="0.0" izz="1.0"/>
    </inertial>
    <visual>
      <origin xyz="0.0 0.0 0.0" rpy="0.0 0.0 0.0"/>
      <geometry>
        <mesh filename="package://iai_kitchen/meshes/drawers/Drawer_60_29.obj"/>
      </geometry>
    </visual>
    <collision>
      <origin xyz="0.0 0.0 0.0" rpy="0.0 0.0 0.0"/>
      <geometry>
        <mesh filename="package://iai_kitchen/meshes/drawers/Drawer_60_29.obj"/>
      </geometry>
    </collision>
  </link>
  <link name="kitchen_island_left_upper_drawer_handle">
    <inertial>
      <origin xyz="0.0 0.0 0.0" rpy="0.0 0.0 0.0"/>
      <mass value="1.0"/>
      <inertia ixx="1.0" ixy="0.0" ixz="0.0" iyy="1.0" iyz="0.0" izz="1.0"/>
    </inertial>
    <visual>
      <origin xyz="0.0 0.0 0.0" rpy="0.0 0.0 0.0"/>
      <geometry>
        <mesh filename="package://iai_kitchen/meshes/handles/Handle60.obj"/>
      </geometry>
    </visual>
    <collision>
      <origin xyz="0.0 0.0 0.0" rpy="0.0 0.0 0.0"/>
      <geometry>
        <mesh filename="package://iai_kitchen/meshes/handles/Handle60.obj"/>
      </geometry>
    </collision>
  </link>
  <joint name="kitchen_island_left_upper_drawer_main_joint" type="prismatic">
    <origin xyz="0.0025 -0.8 0.114" rpy="0.0 0.0 0.0"/>
    <axis xyz="1.0 0.0 0.0"/>
    <parent link="kitchen_island"/>
    <child link="kitchen_island_left_upper_drawer_main"/>
    <limit effort="300.0" lower="0.0" upper="0.48" velocity="10.0"/>
  </joint>
  <joint name="kitchen_island_left_upper_drawer_handle_joint" type="fixed">
    <origin xyz="0.3325 0.0 0.11" rpy="0.0 0.0 0.0"/>
    <axis xyz="0.0 0.0 1.0"/>
    <parent link="kitchen_island_left_upper_drawer_main"/>
    <child link="kitchen_island_left_upper_drawer_handle"/>
    <limit effort="300.0" lower="0.0" upper="1.57079632679" velocity="10.0"/>
  </joint>
  <link name="kitchen_island_left_lower_drawer_main">
    <inertial>
      <origin xyz="0.0 0.0 0.0" rpy="0.0 0.0 0.0"/>
      <mass value="1.0"/>
      <inertia ixx="1.0" ixy="0.0" ixz="0.0" iyy="1.0" iyz="0.0" izz="1.0"/>
    </inertial>
    <visual>
      <origin xyz="0.0 0.0 0.0" rpy="0.0 0.0 0.0"/>
      <geometry>
        <mesh filename="package://iai_kitchen/meshes/drawers/Drawer_60_29.obj"/>
      </geometry>
    </visual>
    <collision>
      <origin xyz="0.0 0.0 0.0" rpy="0.0 0.0 0.0"/>
      <geometry>
        <mesh filename="package://iai_kitchen/meshes/drawers/Drawer_60_29.obj"/>
      </geometry>
    </collision>
  </link>
  <link name="kitchen_island_left_lower_drawer_handle">
    <inertial>
      <origin xyz="0.0 0.0 0.0" rpy="0.0 0.0 0.0"/>
      <mass value="1.0"/>
      <inertia ixx="1.0" ixy="0.0" ixz="0.0" iyy="1.0" iyz="0.0" izz="1.0"/>
    </inertial>
    <visual>
      <origin xyz="0.0 0.0 0.0" rpy="0.0 0.0 0.0"/>
      <geometry>
        <mesh filename="package://iai_kitchen/meshes/handles/Handle60.obj"/>
      </geometry>
    </visual>
    <collision>
      <origin xyz="0.0 0.0 0.0" rpy="0.0 0.0 0.0"/>
      <geometry>
        <mesh filename="package://iai_kitchen/meshes/handles/Handle60.obj"/>
      </geometry>
    </collision>
  </link>
  <joint name="kitchen_island_left_lower_drawer_main_joint" type="prismatic">
    <origin xyz="0.0025 -0.8 -0.176" rpy="0.0 0.0 0.0"/>
    <axis xyz="1.0 0.0 0.0"/>
    <parent link="kitchen_island"/>
    <child link="kitchen_island_left_lower_drawer_main"/>
    <limit effort="300.0" lower="0.0" upper="0.48" velocity="10.0"/>
  </joint>
  <joint name="kitchen_island_left_lower_drawer_handle_joint" type="fixed">
    <origin xyz="0.3325 0.0 0.11" rpy="0.0 0.0 0.0"/>
    <axis xyz="0.0 0.0 1.0"/>
    <parent link="kitchen_island_left_lower_drawer_main"/>
    <child link="kitchen_island_left_lower_drawer_handle"/>
    <limit effort="300.0" lower="0.0" upper="1.57079632679" velocity="10.0"/>
  </joint>
  <link name="kitchen_island_middle_panel">
    <inertial>
      <origin xyz="0.0 0.0 0.0" rpy="0.0 0.0 0.0"/>
      <mass value="1.0"/>
      <inertia ixx="1.0" ixy="0.0" ixz="0.0" iyy="1.0" iyz="0.0" izz="1.0"/>
    </inertial>
    <visual>
      <origin xyz="0.0 0.0 0.0" rpy="0.0 0.0 0.0"/>
      <geometry>
        <mesh filename="package://iai_kitchen/meshes/drawers/Panel_100.obj"/>
      </geometry>
    </visual>
    <collision>
      <origin xyz="0.0 0.0 0.0" rpy="0.0 0.0 0.0"/>
      <geometry>
        <mesh filename="package://iai_kitchen/meshes/drawers/Panel_100.obj"/>
      </geometry>
    </collision>
  </link>
  <joint name="kitchen_island_middle_panel_joint" type="fixed">
    <origin xyz="0.2725 0.0 0.329" rpy="0.0 0.0 0.0"/>
    <parent link="kitchen_island"/>
    <child link="kitchen_island_middle_panel"/>
  </joint>
  <link name="kitchen_island_middle_upper_drawer_main">
    <inertial>
      <origin xyz="0.0 0.0 0.0" rpy="0.0 0.0 0.0"/>
      <mass value="1.0"/>
      <inertia ixx="1.0" ixy="0.0" ixz="0.0" iyy="1.0" iyz="0.0" izz="1.0"/>
    </inertial>
    <visual>
      <origin xyz="0.0 0.0 0.0" rpy="0.0 0.0 0.0"/>
      <geometry>
        <mesh filename="package://iai_kitchen/meshes/drawers/Drawer_100_29.obj"/>
      </geometry>
    </visual>
    <collision>
      <origin xyz="0.0 0.0 0.0" rpy="0.0 0.0 0.0"/>
      <geometry>
        <mesh filename="package://iai_kitchen/meshes/drawers/Drawer_100_29.obj"/>
      </geometry>
    </collision>
  </link>
  <link name="kitchen_island_middle_upper_drawer_handle">
    <inertial>
      <origin xyz="0.0 0.0 0.0" rpy="0.0 0.0 0.0"/>
      <mass value="1.0"/>
      <inertia ixx="1.0" ixy="0.0" ixz="0.0" iyy="1.0" iyz="0.0" izz="1.0"/>
    </inertial>
    <visual>
      <origin xyz="0.0 0.0 0.0" rpy="0.0 0.0 0.0"/>
      <geometry>
        <mesh filename="package://iai_kitchen/meshes/handles/Handle100.obj"/>
      </geometry>
    </visual>
    <collision>
      <origin xyz="0.0 0.0 0.0" rpy="0.0 0.0 0.0"/>
      <geometry>
        <mesh filename="package://iai_kitchen/meshes/handles/Handle100.obj"/>
      </geometry>
    </collision>
  </link>
  <joint name="kitchen_island_middle_upper_drawer_main_joint" type="prismatic">
    <origin xyz="0.0025 0.0 0.114" rpy="0.0 0.0 0.0"/>
    <axis xyz="1.0 0.0 0.0"/>
    <parent link="kitchen_island"/>
    <child link="kitchen_island_middle_upper_drawer_main"/>
    <limit effort="300.0" lower="0.0" upper="0.48" velocity="10.0"/>
  </joint>
  <joint name="kitchen_island_middle_upper_drawer_handle_joint" type="fixed">
    <origin xyz="0.3325 0.0 0.11" rpy="0.0 0.0 0.0"/>
    <axis xyz="0.0 0.0 1.0"/>
    <parent link="kitchen_island_middle_upper_drawer_main"/>
    <child link="kitchen_island_middle_upper_drawer_handle"/>
    <limit effort="300.0" lower="0.0" upper="1.57079632679" velocity="10.0"/>
  </joint>
  <link name="kitchen_island_middle_lower_drawer_main">
    <inertial>
      <origin xyz="0.0 0.0 0.0" rpy="0.0 0.0 0.0"/>
      <mass value="1.0"/>
      <inertia ixx="1.0" ixy="0.0" ixz="0.0" iyy="1.0" iyz="0.0" izz="1.0"/>
    </inertial>
    <visual>
      <origin xyz="0.0 0.0 0.0" rpy="0.0 0.0 0.0"/>
      <geometry>
        <mesh filename="package://iai_kitchen/meshes/drawers/Drawer_100_29.obj"/>
      </geometry>
    </visual>
    <collision>
      <origin xyz="0.0 0.0 0.0" rpy="0.0 0.0 0.0"/>
      <geometry>
        <mesh filename="package://iai_kitchen/meshes/drawers/Drawer_100_29.obj"/>
      </geometry>
    </collision>
  </link>
  <link name="kitchen_island_middle_lower_drawer_handle">
    <inertial>
      <origin xyz="0.0 0.0 0.0" rpy="0.0 0.0 0.0"/>
      <mass value="1.0"/>
      <inertia ixx="1.0" ixy="0.0" ixz="0.0" iyy="1.0" iyz="0.0" izz="1.0"/>
    </inertial>
    <visual>
      <origin xyz="0.0 0.0 0.0" rpy="0.0 0.0 0.0"/>
      <geometry>
        <mesh filename="package://iai_kitchen/meshes/handles/Handle100.obj"/>
      </geometry>
    </visual>
    <collision>
      <origin xyz="0.0 0.0 0.0" rpy="0.0 0.0 0.0"/>
      <geometry>
        <mesh filename="package://iai_kitchen/meshes/handles/Handle100.obj"/>
      </geometry>
    </collision>
  </link>
  <joint name="kitchen_island_middle_lower_drawer_main_joint" type="prismatic">
    <origin xyz="0.0025 0.0 -0.176" rpy="0.0 0.0 0.0"/>
    <axis xyz="1.0 0.0 0.0"/>
    <parent link="kitchen_island"/>
    <child link="kitchen_island_middle_lower_drawer_main"/>
    <limit effort="300.0" lower="0.0" upper="0.48" velocity="10.0"/>
  </joint>
  <joint name="kitchen_island_middle_lower_drawer_handle_joint" type="fixed">
    <origin xyz="0.3325 0.0 0.11" rpy="0.0 0.0 0.0"/>
    <axis xyz="0.0 0.0 1.0"/>
    <parent link="kitchen_island_middle_lower_drawer_main"/>
    <child link="kitchen_island_middle_lower_drawer_handle"/>
    <limit effort="300.0" lower="0.0" upper="1.57079632679" velocity="10.0"/>
  </joint>
  <link name="kitchen_island_right_panel">
    <inertial>
      <origin xyz="0.0 0.0 0.0" rpy="0.0 0.0 0.0"/>
      <mass value="1.0"/>
      <inertia ixx="1.0" ixy="0.0" ixz="0.0" iyy="1.0" iyz="0.0" izz="1.0"/>
    </inertial>
    <visual>
      <origin xyz="0.0 0.0 0.0" rpy="0.0 0.0 0.0"/>
      <geometry>
        <mesh filename="package://iai_kitchen/meshes/drawers/Panel_60.obj"/>
      </geometry>
    </visual>
    <collision>
      <origin xyz="0.0 0.0 0.0" rpy="0.0 0.0 0.0"/>
      <geometry>
        <mesh filename="package://iai_kitchen/meshes/drawers/Panel_60.obj"/>
      </geometry>
    </collision>
  </link>
  <joint name="kitchen_island_right_panel_joint" type="fixed">
    <origin xyz="0.2725 0.8 0.329" rpy="0.0 0.0 0.0"/>
    <parent link="kitchen_island"/>
    <child link="kitchen_island_right_panel"/>
  </joint>
  <link name="kitchen_island_right_upper_drawer_main">
    <inertial>
      <origin xyz="0.0 0.0 0.0" rpy="0.0 0.0 0.0"/>
      <mass value="1.0"/>
      <inertia ixx="1.0" ixy="0.0" ixz="0.0" iyy="1.0" iyz="0.0" izz="1.0"/>
    </inertial>
    <visual>
      <origin xyz="0.0 0.0 0.0" rpy="0.0 0.0 0.0"/>
      <geometry>
        <mesh filename="package://iai_kitchen/meshes/drawers/Drawer_60_29.obj"/>
      </geometry>
    </visual>
    <collision>
      <origin xyz="0.0 0.0 0.0" rpy="0.0 0.0 0.0"/>
      <geometry>
        <mesh filename="package://iai_kitchen/meshes/drawers/Drawer_60_29.obj"/>
      </geometry>
    </collision>
  </link>
  <link name="kitchen_island_right_upper_drawer_handle">
    <inertial>
      <origin xyz="0.0 0.0 0.0" rpy="0.0 0.0 0.0"/>
      <mass value="1.0"/>
      <inertia ixx="1.0" ixy="0.0" ixz="0.0" iyy="1.0" iyz="0.0" izz="1.0"/>
    </inertial>
    <visual>
      <origin xyz="0.0 0.0 0.0" rpy="0.0 0.0 0.0"/>
      <geometry>
        <mesh filename="package://iai_kitchen/meshes/handles/Handle60.obj"/>
      </geometry>
    </visual>
    <collision>
      <origin xyz="0.0 0.0 0.0" rpy="0.0 0.0 0.0"/>
      <geometry>
        <mesh filename="package://iai_kitchen/meshes/handles/Handle60.obj"/>
      </geometry>
    </collision>
  </link>
  <joint name="kitchen_island_right_upper_drawer_main_joint" type="prismatic">
    <origin xyz="0.0025 0.8 0.114" rpy="0.0 0.0 0.0"/>
    <axis xyz="1.0 0.0 0.0"/>
    <parent link="kitchen_island"/>
    <child link="kitchen_island_right_upper_drawer_main"/>
    <limit effort="300.0" lower="0.0" upper="0.48" velocity="10.0"/>
  </joint>
  <joint name="kitchen_island_right_upper_drawer_handle_joint" type="fixed">
    <origin xyz="0.3325 0.0 0.11" rpy="0.0 0.0 0.0"/>
    <axis xyz="0.0 0.0 1.0"/>
    <parent link="kitchen_island_right_upper_drawer_main"/>
    <child link="kitchen_island_right_upper_drawer_handle"/>
    <limit effort="300.0" lower="0.0" upper="1.57079632679" velocity="10.0"/>
  </joint>
  <link name="kitchen_island_right_lower_drawer_main">
    <inertial>
      <origin xyz="0.0 0.0 0.0" rpy="0.0 0.0 0.0"/>
      <mass value="1.0"/>
      <inertia ixx="1.0" ixy="0.0" ixz="0.0" iyy="1.0" iyz="0.0" izz="1.0"/>
    </inertial>
    <visual>
      <origin xyz="0.0 0.0 0.0" rpy="0.0 0.0 0.0"/>
      <geometry>
        <mesh filename="package://iai_kitchen/meshes/drawers/Drawer_60_29.obj"/>
      </geometry>
    </visual>
    <collision>
      <origin xyz="0.0 0.0 0.0" rpy="0.0 0.0 0.0"/>
      <geometry>
        <mesh filename="package://iai_kitchen/meshes/drawers/Drawer_60_29.obj"/>
      </geometry>
    </collision>
  </link>
  <link name="kitchen_island_right_lower_drawer_handle">
    <inertial>
      <origin xyz="0.0 0.0 0.0" rpy="0.0 0.0 0.0"/>
      <mass value="1.0"/>
      <inertia ixx="1.0" ixy="0.0" ixz="0.0" iyy="1.0" iyz="0.0" izz="1.0"/>
    </inertial>
    <visual>
      <origin xyz="0.0 0.0 0.0" rpy="0.0 0.0 0.0"/>
      <geometry>
        <mesh filename="package://iai_kitchen/meshes/handles/Handle60.obj"/>
      </geometry>
    </visual>
    <collision>
      <origin xyz="0.0 0.0 0.0" rpy="0.0 0.0 0.0"/>
      <geometry>
        <mesh filename="package://iai_kitchen/meshes/handles/Handle60.obj"/>
      </geometry>
    </collision>
  </link>
  <joint name="kitchen_island_right_lower_drawer_main_joint" type="prismatic">
    <origin xyz="0.0025 0.8 -0.176" rpy="0.0 0.0 0.0"/>
    <axis xyz="1.0 0.0 0.0"/>
    <parent link="kitchen_island"/>
    <child link="kitchen_island_right_lower_drawer_main"/>
    <limit effort="300.0" lower="0.0" upper="0.48" velocity="10.0"/>
  </joint>
  <joint name="kitchen_island_right_lower_drawer_handle_joint" type="fixed">
    <origin xyz="0.3325 0.0 0.11" rpy="0.0 0.0 0.0"/>
    <axis xyz="0.0 0.0 1.0"/>
    <parent link="kitchen_island_right_lower_drawer_main"/>
    <child link="kitchen_island_right_lower_drawer_handle"/>
    <limit effort="300.0" lower="0.0" upper="1.57079632679" velocity="10.0"/>
  </joint>
  <link name="fridge_area_footprint">
    <inertial>
      <origin xyz="0.0 0.0 0.0" rpy="0.0 0.0 0.0"/>
      <mass value="1.0"/>
      <inertia ixx="1.0" ixy="0.0" ixz="0.0" iyy="1.0" iyz="0.0" izz="1.0"/>
    </inertial>
  </link>
  <link name="fridge_area">
    <inertial>
      <origin xyz="0.0 0.0 0.0" rpy="0.0 0.0 0.0"/>
      <mass value="1.0"/>
      <inertia ixx="1.0" ixy="0.0" ixz="0.0" iyy="1.0" iyz="0.0" izz="1.0"/>
    </inertial>
    <visual>
      <origin xyz="0.0 0.0 0.01" rpy="0.0 0.0 0.0"/>
      <geometry>
        <mesh filename="package://iai_kitchen/meshes/racks/FridgeArea.obj"/>
      </geometry>
    </visual>
    <collision>
      <origin xyz="0.0 0.0 0.01" rpy="0.0 0.0 0.0"/>
      <geometry>
        <mesh filename="package://iai_kitchen/meshes/racks/FridgeArea.obj"/>
      </geometry>
    </collision>
  </link>
  <joint name="fridge_area_footprint_joint" type="fixed">
    <origin xyz="1.825 -0.74 0.0" rpy="0.0 0.0 3.14159265359"/>
    <parent link="kitchen_main"/>
    <child link="fridge_area_footprint"/>
  </joint>
  <joint name="fridge_area_main_joint" type="fixed">
    <origin xyz="0.29 0.3 0.74" rpy="0.0 0.0 0.0"/>
    <parent link="fridge_area_footprint"/>
    <child link="fridge_area"/>
  </joint>
  <link name="fridge_area_lower_drawer_main">
    <inertial>
      <origin xyz="0.0 0.0 0.0" rpy="0.0 0.0 0.0"/>
      <mass value="1.0"/>
      <inertia ixx="1.0" ixy="0.0" ixz="0.0" iyy="1.0" iyz="0.0" izz="1.0"/>
    </inertial>
    <visual>
      <origin xyz="0.0 0.0 0.0" rpy="0.0 0.0 0.0"/>
      <geometry>
        <mesh filename="package://iai_kitchen/meshes/drawers/Drawer_60_29.obj"/>
      </geometry>
    </visual>
    <collision>
      <origin xyz="0.0 0.0 0.0" rpy="0.0 0.0 0.0"/>
      <geometry>
        <mesh filename="package://iai_kitchen/meshes/drawers/Drawer_60_29.obj"/>
      </geometry>
    </collision>
  </link>
  <link name="fridge_area_lower_drawer_handle">
    <inertial>
      <origin xyz="0.0 0.0 0.0" rpy="0.0 0.0 0.0"/>
      <mass value="1.0"/>
      <inertia ixx="1.0" ixy="0.0" ixz="0.0" iyy="1.0" iyz="0.0" izz="1.0"/>
    </inertial>
    <visual>
      <origin xyz="0.0 0.0 0.0" rpy="0.0 0.0 0.0"/>
      <geometry>
        <mesh filename="package://iai_kitchen/meshes/handles/Handle60.obj"/>
      </geometry>
    </visual>
    <collision>
      <origin xyz="0.0 0.0 0.0" rpy="0.0 0.0 0.0"/>
      <geometry>
        <mesh filename="package://iai_kitchen/meshes/handles/Handle60.obj"/>
      </geometry>
    </collision>
  </link>
  <joint name="fridge_area_lower_drawer_main_joint" type="prismatic">
    <origin xyz="0.0 -0.0 -0.4175" rpy="0.0 0.0 0.0"/>
    <axis xyz="1.0 0.0 0.0"/>
    <parent link="fridge_area"/>
    <child link="fridge_area_lower_drawer_main"/>
    <limit effort="300.0" lower="0.0" upper="0.48" velocity="10.0"/>
  </joint>
  <joint name="fridge_area_lower_drawer_handle_joint" type="fixed">
    <origin xyz="0.3325 0.0 0.11" rpy="0.0 0.0 0.0"/>
    <axis xyz="0.0 0.0 1.0"/>
    <parent link="fridge_area_lower_drawer_main"/>
    <child link="fridge_area_lower_drawer_handle"/>
    <limit effort="300.0" lower="0.0" upper="1.57079632679" velocity="10.0"/>
  </joint>
  <link name="iai_fridge_main">
    <inertial>
      <origin xyz="0.0 0.0 0.0" rpy="0.0 0.0 0.0"/>
      <mass value="1.0"/>
      <inertia ixx="1.0" ixy="0.0" ixz="0.0" iyy="1.0" iyz="0.0" izz="1.0"/>
    </inertial>
    <visual>
      <origin xyz="0.0 0.0 0.0" rpy="0.0 0.0 0.0"/>
      <geometry>
        <mesh filename="package://iai_kitchen/meshes/misc/Fridge.obj"/>
      </geometry>
    </visual>
    <collision>
      <origin xyz="0.0 0.0 0.0" rpy="0.0 0.0 0.0"/>
      <geometry>
        <mesh filename="package://iai_kitchen/meshes/misc/Fridge.obj"/>
      </geometry>
    </collision>
  </link>
  <link name="iai_fridge_door">
    <inertial>
      <origin xyz="0.0 0.0 0.0" rpy="0.0 0.0 0.0"/>
      <mass value="1.0"/>
      <inertia ixx="1.0" ixy="0.0" ixz="0.0" iyy="1.0" iyz="0.0" izz="1.0"/>
    </inertial>
    <visual>
      <origin xyz="0.0 0.0 0.0" rpy="0.0 0.0 0.0"/>
      <geometry>
        <mesh filename="package://iai_kitchen/meshes/misc/FridgeDoor.obj"/>
      </geometry>
    </visual>
    <collision>
      <origin xyz="0.0 0.0 0.0" rpy="0.0 0.0 0.0"/>
      <geometry>
        <mesh filename="package://iai_kitchen/meshes/misc/FridgeDoor.obj"/>
      </geometry>
    </collision>
  </link>
  <link name="iai_fridge_door_handle">
    <inertial>
      <origin xyz="0.0 0.0 0.0" rpy="0.0 0.0 0.0"/>
      <mass value="1.0"/>
      <inertia ixx="1.0" ixy="0.0" ixz="0.0" iyy="1.0" iyz="0.0" izz="1.0"/>
    </inertial>
    <visual>
      <origin xyz="0.0 0.0 0.0" rpy="0.0 0.0 0.0"/>
      <geometry>
        <mesh filename="package://iai_kitchen/meshes/handles/VHandle90.obj"/>
      </geometry>
    </visual>
    <collision>
      <origin xyz="0.0 0.0 0.0" rpy="0.0 0.0 0.0"/>
      <geometry>
        <mesh filename="package://iai_kitchen/meshes/handles/VHandle90.obj"/>
      </geometry>
    </collision>
  </link>
  <joint name="iai_fridge_main_joint" type="fixed">
    <origin xyz="0.0 0.0 0.0" rpy="0.0 0.0 0.0"/>
    <parent link="fridge_area"/>
    <child link="iai_fridge_main"/>
  </joint>
  <joint name="iai_fridge_door_joint" type="revolute">
    <origin xyz="0.29 0.3 0.245" rpy="0.0 0.0 0.0"/>
    <axis xyz="0.0 0.0 1.0"/>
    <parent link="iai_fridge_main"/>
    <child link="iai_fridge_door"/>
    <limit effort="300.0" lower="0.0" upper="1.57079632679" velocity="10.0"/>
  </joint>
  <joint name="iai_fridge_door_handle_joint" type="fixed">
    <origin xyz="0.06 -0.57 0.0" rpy="0.0 0.0 0.0"/>
    <parent link="iai_fridge_door"/>
    <child link="iai_fridge_door_handle"/>
  </joint>
  <link name="kitchen_wall_1">
    <inertial>
      <origin xyz="0.0 0.0 0.0" rpy="0.0 0.0 0.0"/>
      <mass value="1.0"/>
      <inertia ixx="1.0" ixy="0.0" ixz="0.0" iyy="1.0" iyz="0.0" izz="1.0"/>
    </inertial>
    <visual>
      <origin xyz="0.0 0.0 1.25" rpy="0.0 0.0 0.0"/>
      <geometry>
        <box size="4.9 0.15 2.5"/>
      </geometry>
    </visual>
    <collision>
      <origin xyz="0.0 0.0 1.25" rpy="0.0 0.0 0.0"/>
      <geometry>
        <box size="4.9 0.15 2.5"/>
      </geometry>
    </collision>
  </link>
  <link name="kitchen_wall_2">
    <inertial>
      <origin xyz="0.0 0.0 0.0" rpy="0.0 0.0 0.0"/>
      <mass value="1.0"/>
      <inertia ixx="1.0" ixy="0.0" ixz="0.0" iyy="1.0" iyz="0.0" izz="1.0"/>
    </inertial>
    <visual>
      <origin xyz="0.0 0.0 1.25" rpy="0.0 0.0 0.0"/>
      <geometry>
        <box size="5.901 0.15 2.5"/>
      </geometry>
    </visual>
    <collision>
      <origin xyz="0.0 0.0 1.25" rpy="0.0 0.0 0.0"/>
      <geometry>
        <box size="5.901 0.15 2.5"/>
      </geometry>
    </collision>
  </link>
  <link name="kitchen_walls"/>
  <joint name="walls_main_joint" type="fixed">
    <origin xyz="-1.0 0.562175 0.0" rpy="0.0 0.0 0.0"/>
    <parent link="kitchen_main"/>
    <child link="kitchen_walls"/>
  </joint>
  <joint name="wall_1_joint" type="fixed">
    <origin xyz="2.87551 0.0 0.0" rpy="0.0 -0.0 1.5708"/>
    <parent link="kitchen_walls"/>
    <child link="kitchen_wall_1"/>
  </joint>
  <joint name="wall_2_joint" type="fixed">
    <origin xyz="0.0 2.516 0.0" rpy="0.0 -0.0 3.14159"/>
    <parent link="kitchen_walls"/>
    <child link="kitchen_wall_2"/>
  </joint>
  <link name="iai_kitchen:arena:door_center">
    <visual>
      <origin xyz="0.4275 0.0 0.0" rpy="0.0 0.0 0.0"/>
      <geometry>
        <box size="0.855 0.04 2.0"/>
      </geometry>
      <material name="door_green"/>
    </visual>
    <collision>
      <origin xyz="0.4275 0.0 0.0" rpy="0.0 0.0 0.0"/>
      <geometry>
        <box size="0.855 0.04 2.0"/>
      </geometry>
    </collision>
  </link>
  <link name="iai_kitchen:arena:door_hinge">
    <visual>
      <origin xyz="0.0 0.0 0.0" rpy="0.0 0.0 0.0"/>
      <geometry>
        <box size="0.05 0.05 2.0"/>
      </geometry>
      <material name="hinge_red"/>
    </visual>
    <collision>
      <origin xyz="0.0 0.0 0.0" rpy="0.0 0.0 0.0"/>
      <geometry>
        <box size="0.05 0.05 2.0"/>
      </geometry>
    </collision>
  </link>
  <link name="iai_kitchen:arena:door_handle_link">
    <visual>
      <origin xyz="0.0 0.0 0.0" rpy="0.0 0.0 0.0"/>
      <geometry>
        <cylinder radius="0.013" length="0.1"/>
      </geometry>
    </visual>
    <collision>
      <origin xyz="0.0 0.0 0.0" rpy="0.0 0.0 0.0"/>
      <geometry>
        <cylinder radius="0.013" length="0.1"/>
      </geometry>
    </collision>
  </link>
  <link name="iai_kitchen:arena:door_handle_outside">
    <visual>
      <origin xyz="0.0 0.0 0.0" rpy="0.0 0.0 0.0"/>
      <geometry>
        <box size="0.015 0.15 0.01"/>
      </geometry>
      <material name="handle_blue"/>
    </visual>
    <collision>
      <origin xyz="0.0 0.0 0.0" rpy="0.0 0.0 0.0"/>
      <geometry>
        <box size="0.015 0.15 0.01"/>
      </geometry>
    </collision>
  </link>
  <link name="iai_kitchen:arena:door_handle_inside">
    <visual>
      <origin xyz="0.0 0.0 0.0" rpy="0.0 0.0 0.0"/>
      <geometry>
        <box size="0.015 0.15 0.01"/>
      </geometry>
      <material name="handle_blue"/>
    </visual>
    <collision>
      <origin xyz="0.0 0.0 0.0" rpy="0.0 0.0 0.0"/>
      <geometry>
        <box size="0.015 0.15 0.01"/>
      </geometry>
    </collision>
  </link>
  <joint name="iai_kitchen:arena:door_origin_revolute_joint" type="revolute">
    <origin xyz="0.0 0.0 0.0" rpy="0.0 0.0 1.57"/>
    <axis xyz="0.0 0.0 1.0"/>
    <parent link="iai_kitchen:arena:door_hinge"/>
    <child link="iai_kitchen:arena:door_center"/>
    <limit effort="100.0" lower="-1.4" upper="0.0" velocity="10.0"/>
  </joint>
  <joint name="iai_kitchen:arena:door_hinge_joint" type="fixed">
    <origin xyz="0.58 -0.44 1.04" rpy="0.0 0.0 0.0"/>
    <axis xyz="0.0 0.0 0.0"/>
    <parent link="urdf_offset"/>
    <child link="iai_kitchen:arena:door_hinge"/>
    <limit effort="1.0" lower="0.0" upper="1.5708" velocity="1.0"/>
  </joint>
  <joint name="iai_kitchen:arena:door_handle_joint" type="revolute">
    <origin xyz="0.82 0.0 0.02" rpy="1.5707963267948966 0.0 0.0"/>
    <axis xyz="0.0 0.0 1.0"/>
    <parent link="iai_kitchen:arena:door_center"/>
    <child link="iai_kitchen:arena:door_handle_link"/>
    <limit effort="1.0" lower="0.0" upper="0.6283185307179586" velocity="1.0"/>
  </joint>
  <joint name="iai_kitchen:arena:door_handle_inside_joint" type="fixed">
    <origin xyz="-0.04 0.0 0.045" rpy="0.0 0.0 1.5707963267948966"/>
    <parent link="iai_kitchen:arena:door_handle_link"/>
    <child link="iai_kitchen:arena:door_handle_inside"/>
  </joint>
  <joint name="iai_kitchen:arena:door_handle_outside_joint" type="fixed">
    <origin xyz="-0.075 0.0 -0.05" rpy="0.0 0.0 -1.5707963267948966"/>
    <parent link="iai_kitchen:arena:door_handle_link"/>
    <child link="iai_kitchen:arena:door_handle_outside"/>
  </joint>
  <link name="living_room:arena:door_center">
    <visual>
      <origin xyz="0.4275 0.0 0.0" rpy="0.0 0.0 0.0"/>
      <geometry>
        <box size="0.855 0.04 2.0"/>
      </geometry>
      <material name="door_green"/>
    </visual>
    <collision>
      <origin xyz="0.4275 0.0 0.0" rpy="0.0 0.0 0.0"/>
      <geometry>
        <box size="0.855 0.04 2.0"/>
      </geometry>
    </collision>
  </link>
  <link name="living_room:arena:door_hinge">
    <visual>
      <origin xyz="0.0 0.0 0.0" rpy="0.0 0.0 0.0"/>
      <geometry>
        <box size="0.05 0.05 2.0"/>
      </geometry>
      <material name="hinge_red"/>
    </visual>
    <collision>
      <origin xyz="0.0 0.0 0.0" rpy="0.0 0.0 0.0"/>
      <geometry>
        <box size="0.05 0.05 2.0"/>
      </geometry>
    </collision>
  </link>
  <link name="living_room:arena:door_handle_link">
    <visual>
      <origin xyz="0.0 0.0 0.0" rpy="0.0 0.0 0.0"/>
      <geometry>
        <cylinder radius="0.013" length="0.1"/>
      </geometry>
    </visual>
    <collision>
      <origin xyz="0.0 0.0 0.0" rpy="0.0 0.0 0.0"/>
      <geometry>
        <cylinder radius="0.013" length="0.1"/>
      </geometry>
    </collision>
  </link>
  <link name="living_room:arena:door_handle_outside">
    <visual>
      <origin xyz="0.0 0.0 0.0" rpy="0.0 0.0 0.0"/>
      <geometry>
        <box size="0.015 0.15 0.01"/>
      </geometry>
      <material name="handle_blue"/>
    </visual>
    <collision>
      <origin xyz="0.0 0.0 0.0" rpy="0.0 0.0 0.0"/>
      <geometry>
        <box size="0.015 0.15 0.01"/>
      </geometry>
    </collision>
  </link>
  <link name="living_room:arena:door_handle_inside">
    <visual>
      <origin xyz="0.0 0.0 0.0" rpy="0.0 0.0 0.0"/>
      <geometry>
        <box size="0.015 0.15 0.01"/>
      </geometry>
      <material name="handle_blue"/>
    </visual>
    <collision>
      <origin xyz="0.0 0.0 0.0" rpy="0.0 0.0 0.0"/>
      <geometry>
        <box size="0.015 0.15 0.01"/>
      </geometry>
    </collision>
  </link>
  <joint name="living_room:arena:door_origin_revolute_joint" type="revolute">
    <origin xyz="0.0 0.0 0.0" rpy="0.0 0.0 1.57"/>
    <axis xyz="0.0 0.0 1.0"/>
    <parent link="living_room:arena:door_hinge"/>
    <child link="living_room:arena:door_center"/>
    <limit effort="100.0" lower="-1.4" upper="0.0" velocity="10.0"/>
  </joint>
  <joint name="living_room:arena:door_hinge_joint" type="fixed">
    <origin xyz="0.28 3.37 1.04" rpy="0.0 0.0 0.0"/>
    <axis xyz="0.0 0.0 0.0"/>
    <parent link="urdf_offset"/>
    <child link="living_room:arena:door_hinge"/>
    <limit effort="1.0" lower="0.0" upper="1.5708" velocity="1.0"/>
  </joint>
  <joint name="living_room:arena:door_handle_joint" type="revolute">
    <origin xyz="0.79 0.0 0.02" rpy="1.5707963267948966 0.0 0.0"/>
    <axis xyz="0.0 0.0 1.0"/>
    <parent link="living_room:arena:door_center"/>
    <child link="living_room:arena:door_handle_link"/>
    <limit effort="1.0" lower="0.0" upper="0.6283185307179586" velocity="1.0"/>
  </joint>
  <joint name="living_room:arena:door_handle_inside_joint" type="fixed">
    <origin xyz="-0.04 0.0 0.045" rpy="0.0 0.0 1.5707963267948966"/>
    <parent link="living_room:arena:door_handle_link"/>
    <child link="living_room:arena:door_handle_inside"/>
  </joint>
  <joint name="living_room:arena:door_handle_outside_joint" type="fixed">
    <origin xyz="-0.075 0.0 -0.05" rpy="0.0 0.0 -1.5707963267948966"/>
    <parent link="living_room:arena:door_handle_link"/>
    <child link="living_room:arena:door_handle_outside"/>
  </joint>
  <link name="urdf_main"/>
  <joint name="map_urdf_joint" type="fixed">
    <origin xyz="0.0 0.0 0.0" rpy="0.0 0.0 0.0"/>
    <parent link="urdf_main"/>
    <child link="urdf_offset"/>
  </joint>
  <link name="urdf_offset"/>
</robot>
